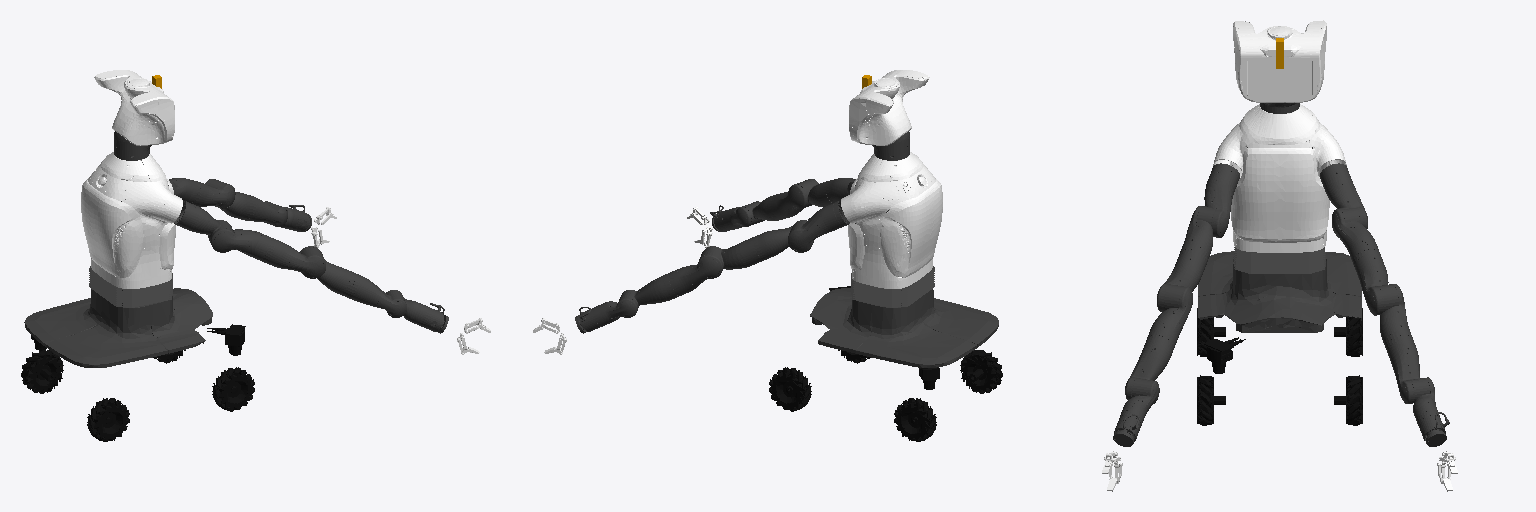
--- Facts derived from the render (not from the file) ---
The picture shows the robot from 3 angles, left to right: view 1: azimuth 30°, elevation 25°; view 2: azimuth 150°, elevation 25°; view 3: azimuth 270°, elevation 25°; orthographic projection.
Model tiago_pro with 67 links and 66 joints (28 revolute, 4 continuous, 1 prismatic, 33 fixed), rooted at base_footprint, posed all joints at 0.
Visible links, largest first — view 1: torso_fixed_link, torso_lift_link, head_2_link, arm_right_3_link, wheel_rear_right_link, wheel_front_right_link, wheel_rear_left_link, arm_right_2_link, arm_right_5_link, arm_right_1_link, arm_left_3_link, arm_right_4_link (+5 smaller); view 2: torso_fixed_link, torso_lift_link, head_2_link, arm_left_1_link, wheel_rear_left_link, wheel_front_left_link, wheel_rear_right_link, arm_left_4_link, arm_left_3_link, arm_left_5_link, arm_right_4_link, arm_left_2_link (+5 smaller); view 3: torso_lift_link, torso_fixed_link, head_2_link, arm_right_1_link, arm_left_3_link, arm_left_5_link, arm_right_5_link, arm_left_1_link, arm_right_3_link, arm_right_4_link, arm_left_2_link, arm_left_4_link (+8 smaller).
Link boxes in pixels (x1,y1,x2,y2): torso_fixed_link: (24,266,212,367); torso_lift_link: (81,152,182,288); head_2_link: (94,70,174,145); arm_right_3_link: (260,237,325,278); wheel_rear_right_link: (87,398,129,441); wheel_front_right_link: (212,367,254,411); wheel_rear_left_link: (21,350,63,393); arm_right_2_link: (211,228,270,259); arm_right_5_link: (345,273,406,317); arm_right_1_link: (174,201,233,242); arm_left_3_link: (191,179,235,209); arm_right_4_link: (299,246,354,295); torso_fixed_link: (810,266,998,367); torso_lift_link: (841,152,942,288); head_2_link: (849,70,929,145); arm_left_1_link: (788,201,849,252); wheel_rear_left_link: (894,398,936,441); wheel_front_left_link: (769,367,811,411); wheel_rear_right_link: (960,350,1002,393); arm_left_4_link: (669,254,722,295); arm_left_3_link: (699,237,763,269); arm_left_5_link: (619,273,678,307); arm_right_4_link: (771,184,806,218); arm_left_2_link: (753,220,806,259); torso_lift_link: (1213,104,1346,252); torso_fixed_link: (1198,247,1361,332); head_2_link: (1233,20,1326,102); arm_right_1_link: (1197,163,1239,237); arm_left_3_link: (1353,249,1398,315); arm_left_5_link: (1386,335,1429,403); arm_right_5_link: (1125,335,1173,399); arm_left_1_link: (1320,163,1367,228); arm_right_3_link: (1157,249,1206,311); arm_right_4_link: (1147,287,1192,347); arm_left_2_link: (1332,209,1378,261); arm_left_4_link: (1380,284,1412,347).
Bounding box of the posed robot: 1.44 × 1.07 × 1.19 m (x, y, z).
38 mesh visuals loaded from 23 distinct referenced files (17 binary STL); not drawn: 10 (reference not matched to a file when rendering).

URDF robot description (tiago_pro):
<?xml version="1.0" ?>
<!-- =================================================================================== -->
<!-- |    This document was autogenerated by xacro from tiago_pro.urdf.xacro           | -->
<!-- |    EDITING THIS FILE BY HAND IS NOT RECOMMENDED                                 | -->
<!-- =================================================================================== -->
<!--

  Copyright (c) 2022 PAL Robotics S.L. All rights reserved.
  Licensed under the Apache License, Version 2.0 (the "License");
  you may not use this file except in compliance with the License.
  You may obtain a copy of the License at
      http://www.apache.org/licenses/LICENSE-2.0
  Unless required by applicable law or agreed to in writing, software
  distributed under the License is distributed on an "AS IS" BASIS,
  WITHOUT WARRANTIES OR CONDITIONS OF ANY KIND, either express or implied.
  See the License for the specific language governing permissions and
  limitations under the License.
-->
<robot name="tiago_pro">
  <material name="Blue">
    <color rgba="0.0 0.0 0.8 1.0"/>
  </material>
  <material name="Green">
    <color rgba="0.0 0.8 0.0 1.0"/>
  </material>
  <material name="Grey">
    <color rgba="0.7 0.7 0.7 1.0"/>
  </material>
  <material name="LightGrey">
    <color rgba="0.9 0.9 0.9 1.0"/>
  </material>
  <material name="DarkGrey">
    <color rgba="0.1 0.1 0.1 1.0"/>
  </material>
  <material name="Red">
    <color rgba="0.8 0.0 0.0 1.0"/>
  </material>
  <material name="White">
    <color rgba="1.0 1.0 1.0 1.0"/>
  </material>
  <material name="Yellow">
    <color rgba="0.96 0.88 0.14 1.0"/>
  </material>
  <material name="Black">
    <color rgba="0.0 0.0 0.0 1.0"/>
  </material>
  <material name="FlatBlack">
    <color rgba="0.09 0.09 0.09 1.0"/>
  </material>
  <material name="Orange">
    <color rgba="1.0 0.487 0.0 1.0"/>
  </material>
  <material name="pal/Orange">
    <color rgba="0.91373 0.61568 0.29411 1.0"/>
  </material>
  <material name="pal/DarkGrey">
    <color rgba="0.29804 0.29804 0.29804 1"/>
  </material>
  <gazebo>
    <plugin filename="libgazebo_ros_control.so" name="gazebo_ros_control">
      <ns/>
      <robotSimType>pal_hardware_gazebo/PalHardwareGazebo</robotSimType>
      <robotNamespace/>
      <controlPeriod>0.001</controlPeriod>
    </plugin>
    <plugin filename="libgazebo_ros_force_based_move.so" name="gazebo_force_based_move">
      <commandTopic>mobile_base_controller/cmd_vel</commandTopic>
      <odometryTopic>mobile_base_controller/odom</odometryTopic>
      <odometryFrame>odom</odometryFrame>
      <odometryRate>50.0</odometryRate>
      <robotBaseFrame>base_footprint</robotBaseFrame>
      <publishOdometryTf>true</publishOdometryTf>
    </plugin>
    <plugin filename="libgazebo_ros_p3d.so" name="gazebo_ros_p3d">
      <bodyName>base_footprint</bodyName>
      <topicName>ground_truth_odom</topicName>
      <alwaysOn>true</alwaysOn>
      <updateRate>100.0</updateRate>
    </plugin>
  </gazebo>
  <gazebo>
    <plugin filename="libgazebo_world_odometry.so" name="gazebo_ros_odometry">
      <frameName>base_footprint</frameName>
      <topicName>floating_base_pose_simulated</topicName>
    </plugin>
  </gazebo>
  <gazebo reference="base_imu_link">
    <!-- this is expected to be reparented to pelvis with appropriate offset
         when imu_link is reduced by fixed joint reduction -->
    <!-- todo: this is working with gazebo 1.4, need to write a unit test -->
    <sensor name="imu_sensor" type="imu">
      <always_on>1</always_on>
      <update_rate>1000.0</update_rate>
      <imu>
        <noise>
          <type>gaussian</type>
          <!-- Noise parameters from Boston Dynamics
               (http://gazebosim.org/wiki/Sensor_noise):
                 rates (rad/s): mean=0, stddev=2e-4
                 accels (m/s/s): mean=0, stddev=1.7e-2
                 rate bias (rad/s): 5e-6 - 1e-5
                 accel bias (m/s/s): 1e-1
               Experimentally, simulation provide rates with noise of
               about 1e-3 rad/s and accels with noise of about 1e-1 m/s/s.
               So we don't expect to see the noise unless number of inner iterations
               are increased.

               We will add bias.  In this model, bias is sampled once for rates
               and once for accels at startup; the sign (negative or positive)
               of each bias is then switched with equal probability.  Thereafter,
               the biases are fixed additive offsets.  We choose
               bias means and stddevs to produce biases close to the provided
               data. -->
          <rate>
            <mean>0.0</mean>
            <stddev>2e-4</stddev>
            <bias_mean>0.0000075</bias_mean>
            <bias_stddev>0.0000008</bias_stddev>
          </rate>
          <accel>
            <mean>0.0</mean>
            <stddev>1.7e-2</stddev>
            <bias_mean>0.1</bias_mean>
            <bias_stddev>0.001</bias_stddev>
          </accel>
        </noise>
      </imu>
    </sensor>
  </gazebo>
  <link name="base_rear_laser_link" type="laser">
    <inertial>
      <origin rpy="0 0 0" xyz="-0.02559000000 -0.00056000000 -0.05732000000"/>
      <mass value="0.28922000000"/>
      <inertia ixx="0.00002628919" ixy="0.00000024298" ixz="-0.00000368129" iyy="0.00003374542" iyz="-0.00000001330" izz="0.00005832599"/>
    </inertial>
    <visual>
      <origin rpy="0 0 0" xyz="0 0 0"/>
      <geometry>
        <mesh filename="package://example-robot-data/robots/tiago2_description/meshes/sensors/sick_tim551.stl"/>
      </geometry>
      <material name="DarkGrey"/>
    </visual>
    <collision>
      <origin rpy="0 0 0" xyz="0 0 0"/>
      <geometry>
        <cylinder length="0.04" radius="0.02"/>
      </geometry>
    </collision>
  </link>
  <joint name="base_rear_laser_joint" type="fixed">
    <axis xyz="0 1 0"/>
    <origin rpy="-3.141592653589793 0 2.356194490192345" xyz="-0.27512 0.18297 0.13244"/>
    <parent link="base_link"/>
    <child link="base_rear_laser_link"/>
  </joint>
  <gazebo reference="base_rear_laser_link">
    <!-- Using gpu laser instead of normal laser because it was causing issues with the omni_base -->
    <sensor name="base_rear_laser" type="gpu_ray">
      <pose>0 0 0 0 0 0</pose>
      <update_rate>10</update_rate>
      <visualize>true</visualize>
      <ray>
        <scan>
          <horizontal>
            <!-- 818 (270/0.33) steps in 270deg fov -->
            <samples>818.0</samples>
            <resolution>1</resolution>
            <!-- not the sensor resolution; just 1 -->
            <min_angle>-2.356194490192345</min_angle>
            <max_angle>2.356194490192345</max_angle>
          </horizontal>
        </scan>
        <range>
          <min>0.05</min>
          <max>25.0</max>
          <resolution>0.001</resolution>
        </range>
      </ray>
      <plugin filename="libgazebo_ros_gpu_laser.so" name="gazebo_ros_sick_laser">
        <gaussianNoise>0.06</gaussianNoise>
        <alwaysOn>true</alwaysOn>
        <updateRate>10</updateRate>
        <topicName>scan_rear_raw</topicName>
        <frameName>base_rear_laser_link</frameName>
      </plugin>
    </sensor>
    <material>Gazebo/DarkGrey</material>
  </gazebo>
  <link name="base_front_laser_link" type="laser">
    <inertial>
      <origin rpy="0 0 0" xyz="-0.02559000000 -0.00056000000 -0.05732000000"/>
      <mass value="0.28922000000"/>
      <inertia ixx="0.00002628919" ixy="0.00000024298" ixz="-0.00000368129" iyy="0.00003374542" iyz="-0.00000001330" izz="0.00005832599"/>
    </inertial>
    <visual>
      <origin rpy="0 0 0" xyz="0 0 0"/>
      <geometry>
        <mesh filename="package://example-robot-data/robots/tiago2_description/meshes/sensors/sick_tim551.stl"/>
      </geometry>
      <material name="DarkGrey"/>
    </visual>
    <collision>
      <origin rpy="0 0 0" xyz="0 0 0"/>
      <geometry>
        <cylinder length="0.04" radius="0.02"/>
      </geometry>
    </collision>
  </link>
  <joint name="base_front_laser_joint" type="fixed">
    <axis xyz="0 1 0"/>
    <origin rpy="-3.141592653589793 0 -0.7853981633974483" xyz="0.27512 -0.18297 0.13244"/>
    <parent link="base_link"/>
    <child link="base_front_laser_link"/>
  </joint>
  <gazebo reference="base_front_laser_link">
    <!-- Using gpu laser instead of normal laser because it was causing issues with the omni_base -->
    <sensor name="base_front_laser" type="gpu_ray">
      <pose>0 0 0 0 0 0</pose>
      <update_rate>10</update_rate>
      <visualize>true</visualize>
      <ray>
        <scan>
          <horizontal>
            <!-- 818 (270/0.33) steps in 270deg fov -->
            <samples>818.0</samples>
            <resolution>1</resolution>
            <!-- not the sensor resolution; just 1 -->
            <min_angle>-2.356194490192345</min_angle>
            <max_angle>2.356194490192345</max_angle>
          </horizontal>
        </scan>
        <range>
          <min>0.05</min>
          <max>25.0</max>
          <resolution>0.001</resolution>
        </range>
      </ray>
      <plugin filename="libgazebo_ros_gpu_laser.so" name="gazebo_ros_sick_laser">
        <gaussianNoise>0.06</gaussianNoise>
        <alwaysOn>true</alwaysOn>
        <updateRate>10</updateRate>
        <topicName>scan_front_raw</topicName>
        <frameName>base_front_laser_link</frameName>
      </plugin>
    </sensor>
    <material>Gazebo/DarkGrey</material>
  </gazebo>
  <!-- Virtual Base Laser Link -->
  <joint name="virtual_base_laser_joint" type="fixed">
    <parent link="base_link"/>
    <child link="virtual_base_laser_link"/>
    <origin rpy="0 0 0" xyz="0 0 0.13244"/>
  </joint>
  <link name="virtual_base_laser_link">
    <inertial>
      <origin rpy="0 0 0" xyz="0 0 0"/>
      <mass value="0.0001"/>
      <inertia ixx="0.0001" ixy="0" ixz="0" iyy="0.0001" iyz="0" izz="0.0001"/>
    </inertial>
  </link>
  <!-- Base footprint -->
  <link name="base_link">
    <inertial>
      <origin rpy="0 0 0" xyz="0.0026742 0.00027459 0.086363"/>
      <mass value="34.047"/>
      <inertia ixx="0.22777" ixy="0.00035979" ixz="0.00015269" iyy="0.29991" iyz="1.7872E-05" izz="0.46036"/>
    </inertial>
    <visual>
      <origin rpy="0 0 0" xyz="0 0 0"/>
      <geometry>
        <mesh filename="package://example-robot-data/robots/tiago2_description/meshes/omni_base/base/base_link.stl"/>
      </geometry>
      <material name="">
        <color rgba="0.75294 0.75294 0.75294 1"/>
      </material>
    </visual>
    <collision>
      <origin rpy="0 0 0" xyz="0 0 0.18925"/>
      <geometry>
        <box size="0.717 0.497 0.0845"/>
      </geometry>
    </collision>
    <collision>
      <origin rpy="0 0 0" xyz="0 0 0.132"/>
      <geometry>
        <box size="0.58 0.39 0.03"/>
      </geometry>
    </collision>
    <collision>
      <origin rpy="0 0 0" xyz="0 0 0.0335"/>
      <geometry>
        <box size="0.705 0.48 0.167"/>
      </geometry>
    </collision>
  </link>
  <link name="base_footprint"/>
  <joint name="base_footprint_joint" type="fixed">
    <origin rpy="0 0 0" xyz="0 0 0.0762"/>
    <child link="base_link"/>
    <parent link="base_footprint"/>
  </joint>
  <!-- gazebo parameters are given here for base_link through base_footprint -->
  <gazebo reference="base_footprint">
    <kp>100000000.0</kp>
    <kd>10.0</kd>
    <mu1>0.1</mu1>
    <mu2>0.1</mu2>
    <fdir1>1 0 0</fdir1>
    <maxVel>10.0</maxVel>
    <minDepth>0.0005</minDepth>
    <laserRetro>0</laserRetro>
  </gazebo>
  <link name="base_imu_link">
    <inertial>
      <mass value="0.01"/>
      <origin xyz="0 0 0"/>
      <inertia ixx="0.000001" ixy="0" ixz="0" iyy="0.000001" iyz="0" izz="0.000001"/>
    </inertial>
    <!--visual>
        <origin rpy="0 0 0" xyz="0 0 0"/>
        <geometry>
          <box size="0.01 0.01 0.01"/>
        </geometry>
      </visual-->
  </link>
  <joint name="base_imu_joint" type="fixed">
    <parent link="base_link"/>
    <child link="base_imu_link"/>
    <origin rpy="0 0 1.5707963267948966" xyz="-0.287 0 0.092163"/>
  </joint>
  <gazebo reference="base_imu_link">
    <sensor name="base_imu_sensor" type="imu">
      <always_on>1</always_on>
      <update_rate>100.0</update_rate>
      <imu>
        <noise>
          <type>gaussian</type>
          <rate>
            <mean>0.0</mean>
            <stddev>2e-4</stddev>
            <bias_mean>0.0000075</bias_mean>
            <bias_stddev>0.0000008</bias_stddev>
          </rate>
          <accel>
            <mean>0.0</mean>
            <stddev>1.7e-2</stddev>
            <bias_mean>0.1</bias_mean>
            <bias_stddev>0.001</bias_stddev>
          </accel>
        </noise>
      </imu>
    </sensor>
  </gazebo>
  <!-- Docking link -->
  <link name="base_dock_link">
    <inertial>
      <origin rpy="0 0 0" xyz="-0.0037082 1.5226E-18 -4.1633E-17"/>
      <mass value="0.032242"/>
      <inertia ixx="2.1302E-05" ixy="-1.0461E-21" ixz="6.6555E-22" iyy="1.2058E-05" iyz="-1.9453E-21" izz="1.0058E-05"/>
    </inertial>
    <visual>
      <origin rpy="0 0 0" xyz="0 0 0"/>
      <geometry>
        <mesh filename="package://example-robot-data/robots/tiago2_description/meshes/omni_base/base/base_dock_link.stl"/>
      </geometry>
      <material name="">
        <color rgba="0.25098 0.25098 0.25098 1"/>
      </material>
    </visual>
    <collision>
      <origin rpy="0 0 0" xyz="0 0 0"/>
      <geometry>
        <mesh filename="package://example-robot-data/robots/tiago2_description/meshes/omni_base/base/base_dock_link.stl"/>
      </geometry>
    </collision>
  </link>
  <joint name="base_dock" type="fixed">
    <origin rpy="0 0 0" xyz="0.3535 0 0.0596"/>
    <parent link="base_link"/>
    <child link="base_dock_link"/>
    <axis xyz="0 0 0"/>
  </joint>
  <link name="base_antenna_right_link">
    <inertial>
      <origin rpy="0 0 0" xyz="0.027807 -0.0085125 0.015138"/>
      <mass value="0.02311"/>
      <inertia ixx="2.3107E-06" ixy="5.0914e-06" ixz="8.5605E-08" iyy="1.7384E-05" iyz="-2.6206e-08" izz="1.8542E-05"/>
    </inertial>
    <visual>
      <origin rpy="0 0 0" xyz="0 0 0"/>
      <geometry>
        <mesh filename="package://example-robot-data/robots/tiago2_description/meshes/omni_base/base/base_antena_link.stl" scale="1 1 1"/>
      </geometry>
      <material name="">
        <color rgba="0.75294 0.75294 0.75294 1"/>
      </material>
    </visual>
    <collision>
      <origin rpy="0 0 0" xyz="0 0 0"/>
      <geometry>
        <mesh filename="package://example-robot-data/robots/tiago2_description/meshes/omni_base/base/base_antena_link.stl" scale="1 1 1"/>
      </geometry>
    </collision>
  </link>
  <joint name="base_antenna_right_joint" type="fixed">
    <origin rpy="0 0 0" xyz="-0.2015 -0.13 0.2165"/>
    <parent link="base_link"/>
    <child link="base_antenna_right_link"/>
    <axis xyz="0 0 0"/>
  </joint>
  <gazebo reference="base_antenna_right_link">
    <material>Gazebo/Black</material>
  </gazebo>
  <link name="base_antenna_left_link">
    <inertial>
      <origin rpy="0 0 0" xyz="0.027807 0.0085125 0.015138"/>
      <mass value="0.02311"/>
      <inertia ixx="2.3107E-06" ixy="-5.0914e-06" ixz="8.5605E-08" iyy="1.7384E-05" iyz="2.6206e-08" izz="1.8542E-05"/>
    </inertial>
    <visual>
      <origin rpy="0 0 0" xyz="0 0 0"/>
      <geometry>
        <mesh filename="package://example-robot-data/robots/tiago2_description/meshes/omni_base/base/base_antena_link.stl" scale="1 -1 1"/>
      </geometry>
      <material name="">
        <color rgba="0.75294 0.75294 0.75294 1"/>
      </material>
    </visual>
    <collision>
      <origin rpy="0 0 0" xyz="0 0 0"/>
      <geometry>
        <mesh filename="package://example-robot-data/robots/tiago2_description/meshes/omni_base/base/base_antena_link.stl" scale="1 -1 1"/>
      </geometry>
    </collision>
  </link>
  <joint name="base_antenna_left_joint" type="fixed">
    <origin rpy="0 0 0" xyz="-0.2015 0.13 0.2165"/>
    <parent link="base_link"/>
    <child link="base_antenna_left_link"/>
    <axis xyz="0 0 0"/>
  </joint>
  <gazebo reference="base_antenna_left_link">
    <material>Gazebo/Black</material>
  </gazebo>
  <link name="suspension_front_right_link">
    <inertial>
      <origin rpy="0 0 0" xyz="-0.058182 -0.0043908 -0.0057695"/>
      <mass value="1.2879"/>
      <inertia ixx="0.0015947" ixy="-0.00013183" ixz="1.7315E-05" iyy="0.00060158" iyz="-6.0731e-05" izz="0.0015861"/>
    </inertial>
    <visual>
      <origin rpy="0 0 0" xyz="0 0 0"/>
      <geometry>
        <mesh filename="package://example-robot-data/robots/tiago2_description/meshes/omni_base/wheels/suspension_front_link.stl" scale="1 1.0 1"/>
      </geometry>
      <material name="">
        <color rgba="0.79216 0.81961 0.93333 1"/>
      </material>
    </visual>
    <collision>
      <origin rpy="0 0 0" xyz="0 0 0"/>
      <geometry>
        <mesh filename="package://example-robot-data/robots/tiago2_description/meshes/omni_base/wheels/suspension_front_link.stl" scale="1 1.0 1"/>
      </geometry>
    </collision>
    <kinematic>0</kinematic>
    <gravity>1</gravity>
  </link>
  <!-- Changed joint type to fixed joint. It is observed that the robot is loosing contact points due to some issues with the Gazebo Physics Engine. This makes the robot drift in localization when static due to added noise -->
  <joint name="suspension_front_right_joint" type="fixed">
    <origin rpy="0 0 -1.5707963267948966" xyz="0.244 -0.1725 0"/>
    <parent link="base_link"/>
    <child link="suspension_front_right_link"/>
    <axis xyz="0 0 1"/>
  </joint>
  <link name="wheel_front_right_link">
    <inertial>
      <origin rpy="0 0 0" xyz="5.4922e-09 6.9775e-05 0.011144"/>
      <mass value="0.70767"/>
      <inertia ixx="0.00035492" ixy="7.5685e-13" ixz="3.8795E-11" iyy="0.00035529" iyz="-2.0284e-07" izz="0.00040131"/>
    </inertial>
    <visual>
      <origin rpy="0 0 0" xyz="0 0 0"/>
      <geometry>
        <mesh filename="package://example-robot-data/robots/tiago2_description/meshes/omni_base/wheels/wheel_link.stl" scale="1 1 1.0"/>
      </geometry>
      <material name="DarkGrey"/>
    </visual>
    <collision>
      <origin rpy="0 0 0" xyz="0 0 0"/>
      <geometry>
        <cylinder length="0.05" radius="0.0762"/>
      </geometry>
    </collision>
  </link>
  <joint name="wheel_front_right_joint" type="continuous">
    <origin rpy="-1.5707963267948966 0 1.5707963267948966" xyz="0.050675 0 0"/>
    <parent link="suspension_front_right_link"/>
    <child link="wheel_front_right_link"/>
    <axis xyz="0 0 1"/>
    <limit effort="6.0" velocity="13.123359580052492"/>
  </joint>
  <transmission name="wheel_front_right_trans">
    <type>transmission_interface/SimpleTransmission</type>
    <actuator name="wheel_front_right_motor">
      <mechanicalReduction>1.0</mechanicalReduction>
    </actuator>
    <joint name="wheel_front_right_joint">
      <hardwareInterface>hardware_interface/VelocityJointInterface</hardwareInterface>
      <hardwareInterface>hardware_interface/JointStateInterface</hardwareInterface>
    </joint>
  </transmission>
  <!-- Contact model for the wheel surface -->
  <gazebo reference="wheel_front_right_link">
    <kp>1000000.0</kp>
    <kd>1000.0</kd>
    <mu1>0.0</mu1>
    <mu2>0.0</mu2>
    <fdir1>1 0 0</fdir1>
    <maxVel>1.0</maxVel>
    <minDepth>0.00</minDepth>
    <implicitSpringDamper>1</implicitSpringDamper>
    <material>Gazebo/DarkGrey</material>
  </gazebo>
  <link name="suspension_front_left_link">
    <inertial>
      <origin rpy="0 0 0" xyz="-0.058182 0.0043908 -0.0057695"/>
      <mass value="1.2879"/>
      <inertia ixx="0.0015947" ixy="0.00013183" ixz="1.7315E-05" iyy="0.00060158" iyz="6.0731e-05" izz="0.0015861"/>
    </inertial>
    <visual>
      <origin rpy="0 0 0" xyz="0 0 0"/>
      <geometry>
        <mesh filename="package://example-robot-data/robots/tiago2_description/meshes/omni_base/wheels/suspension_front_link.stl" scale="1 -1.0 1"/>
      </geometry>
      <material name="">
        <color rgba="0.79216 0.81961 0.93333 1"/>
      </material>
    </visual>
    <collision>
      <origin rpy="0 0 0" xyz="0 0 0"/>
      <geometry>
        <mesh filename="package://example-robot-data/robots/tiago2_description/meshes/omni_base/wheels/suspension_front_link.stl" scale="1 -1.0 1"/>
      </geometry>
    </collision>
    <kinematic>0</kinematic>
    <gravity>1</gravity>
  </link>
  <!-- Changed joint type to fixed joint. It is observed that the robot is loosing contact points due to some issues with the Gazebo Physics Engine. This makes the robot drift in localization when static due to added noise -->
  <joint name="suspension_front_left_joint" type="fixed">
    <origin rpy="0 0 1.5707963267948966" xyz="0.244 0.1725 0"/>
    <parent link="base_link"/>
    <child link="suspension_front_left_link"/>
    <axis xyz="0 0 1"/>
  </joint>
  <link name="wheel_front_left_link">
    <inertial>
      <origin rpy="0 0 0" xyz="5.4922e-09 -6.9775e-05 -0.011144"/>
      <mass value="0.70767"/>
      <inertia ixx="0.00035492" ixy="7.5685e-13" ixz="3.8795E-11" iyy="0.00035529" iyz="-2.0284e-07" izz="0.00040131"/>
    </inertial>
    <visual>
      <origin rpy="0 0 0" xyz="0 0 0"/>
      <geometry>
        <mesh filename="package://example-robot-data/robots/tiago2_description/meshes/omni_base/wheels/wheel_link.stl" scale="1 1 -1.0"/>
      </geometry>
      <material name="DarkGrey"/>
    </visual>
    <collision>
      <origin rpy="0 0 0" xyz="0 0 0"/>
      <geometry>
        <cylinder length="0.05" radius="0.0762"/>
      </geometry>
    </collision>
  </link>
  <joint name="wheel_front_left_joint" type="continuous">
    <origin rpy="-1.5707963267948966 0 -1.5707963267948966" xyz="0.050675 0 0"/>
    <parent link="suspension_front_left_link"/>
    <child link="wheel_front_left_link"/>
    <axis xyz="0 0 1"/>
    <limit effort="6.0" velocity="13.123359580052492"/>
  </joint>
  <transmission name="wheel_front_left_trans">
    <type>transmission_interface/SimpleTransmission</type>
    <actuator name="wheel_front_left_motor">
      <mechanicalReduction>1.0</mechanicalReduction>
    </actuator>
    <joint name="wheel_front_left_joint">
      <hardwareInterface>hardware_interface/VelocityJointInterface</hardwareInterface>
      <hardwareInterface>hardware_interface/JointStateInterface</hardwareInterface>
    </joint>
  </transmission>
  <!-- Contact model for the wheel surface -->
  <gazebo reference="wheel_front_left_link">
    <kp>1000000.0</kp>
    <kd>1000.0</kd>
    <mu1>0.0</mu1>
    <mu2>0.0</mu2>
    <fdir1>1 0 0</fdir1>
    <maxVel>1.0</maxVel>
    <minDepth>0.00</minDepth>
    <implicitSpringDamper>1</implicitSpringDamper>
    <material>Gazebo/DarkGrey</material>
  </gazebo>
  <link name="suspension_rear_right_link">
    <inertial>
      <origin rpy="0 0 0" xyz="-0.058182 0.0043908 -0.0057695"/>
      <mass value="1.2879"/>
      <inertia ixx="0.0015947" ixy="0.00013183" ixz="1.7315E-05" iyy="0.00060158" iyz="6.0731e-05" izz="0.0015861"/>
    </inertial>
    <visual>
      <origin rpy="0 0 0" xyz="0 0 0"/>
      <geometry>
        <mesh filename="package://example-robot-data/robots/tiago2_description/meshes/omni_base/wheels/suspension_rear_link.stl" scale="1 1.0 1"/>
      </geometry>
      <material name="">
        <color rgba="0.79216 0.81961 0.93333 1"/>
      </material>
    </visual>
    <collision>
      <origin rpy="0 0 0" xyz="0 0 0"/>
      <geometry>
        <mesh filename="package://example-robot-data/robots/tiago2_description/meshes/omni_base/wheels/suspension_rear_link.stl" scale="1 1.0 1"/>
      </geometry>
    </collision>
    <kinematic>0</kinematic>
    <gravity>1</gravity>
  </link>
  <!-- Changed joint type to fixed joint. It is observed that the robot is loosing contact points due to some issues with the Gazebo Physics Engine. This makes the robot drift in localization when static due to added noise -->
  <joint name="suspension_rear_right_joint" type="fixed">
    <origin rpy="0 0 -1.5707963267948966" xyz="-0.244 -0.1725 0"/>
    <parent link="base_link"/>
    <child link="suspension_rear_right_link"/>
    <axis xyz="0 0 1"/>
  </joint>
  <link name="wheel_rear_right_link">
    <inertial>
      <origin rpy="0 0 0" xyz="-5.4922e-09 -6.9775e-05 0.011144"/>
      <mass value="0.70767"/>
      <inertia ixx="0.00035492" ixy="-7.5685e-13" ixz="3.8795E-11" iyy="0.00035529" iyz="2.0284e-07" izz="0.00040131"/>
    </inertial>
    <visual>
      <origin rpy="0 0 0" xyz="0 0 0"/>
      <geometry>
        <mesh filename="package://example-robot-data/robots/tiago2_description/meshes/omni_base/wheels/wheel_link.stl" scale="1 1 1.0"/>
      </geometry>
      <material name="DarkGrey"/>
    </visual>
    <collision>
      <origin rpy="0 0 0" xyz="0 0 0"/>
      <geometry>
        <cylinder length="0.05" radius="0.0762"/>
      </geometry>
    </collision>
  </link>
  <joint name="wheel_rear_right_joint" type="continuous">
    <origin rpy="-1.5707963267948966 0 1.5707963267948966" xyz="0.050675 0 0"/>
    <parent link="suspension_rear_right_link"/>
    <child link="wheel_rear_right_link"/>
    <axis xyz="0 0 1"/>
    <limit effort="6.0" velocity="13.123359580052492"/>
  </joint>
  <transmission name="wheel_rear_right_trans">
    <type>transmission_interface/SimpleTransmission</type>
    <actuator name="wheel_rear_right_motor">
      <mechanicalReduction>1.0</mechanicalReduction>
    </actuator>
    <joint name="wheel_rear_right_joint">
      <hardwareInterface>hardware_interface/VelocityJointInterface</hardwareInterface>
      <hardwareInterface>hardware_interface/JointStateInterface</hardwareInterface>
    </joint>
  </transmission>
  <!-- Contact model for the wheel surface -->
  <gazebo reference="wheel_rear_right_link">
    <kp>1000000.0</kp>
    <kd>1000.0</kd>
    <mu1>0.0</mu1>
    <mu2>0.0</mu2>
    <fdir1>1 0 0</fdir1>
    <maxVel>1.0</maxVel>
    <minDepth>0.00</minDepth>
    <implicitSpringDamper>1</implicitSpringDamper>
    <material>Gazebo/DarkGrey</material>
  </gazebo>
  <link name="suspension_rear_left_link">
    <inertial>
      <origin rpy="0 0 0" xyz="-0.058182 -0.0043908 -0.0057695"/>
      <mass value="1.2879"/>
      <inertia ixx="0.0015947" ixy="-0.00013183" ixz="1.7315E-05" iyy="0.00060158" iyz="-6.0731e-05" izz="0.0015861"/>
    </inertial>
    <visual>
      <origin rpy="0 0 0" xyz="0 0 0"/>
      <geometry>
        <mesh filename="package://example-robot-data/robots/tiago2_description/meshes/omni_base/wheels/suspension_rear_link.stl" scale="1 -1.0 1"/>
      </geometry>
      <material name="">
        <color rgba="0.79216 0.81961 0.93333 1"/>
      </material>
    </visual>
    <collision>
      <origin rpy="0 0 0" xyz="0 0 0"/>
      <geometry>
        <mesh filename="package://example-robot-data/robots/tiago2_description/meshes/omni_base/wheels/suspension_rear_link.stl" scale="1 -1.0 1"/>
      </geometry>
    </collision>
    <kinematic>0</kinematic>
    <gravity>1</gravity>
  </link>
  <!-- Changed joint type to fixed joint. It is observed that the robot is loosing contact points due to some issues with the Gazebo Physics Engine. This makes the robot drift in localization when static due to added noise -->
  <joint name="suspension_rear_left_joint" type="fixed">
    <origin rpy="0 0 1.5707963267948966" xyz="-0.244 0.1725 0"/>
    <parent link="base_link"/>
    <child link="suspension_rear_left_link"/>
    <axis xyz="0 0 1"/>
  </joint>
  <link name="wheel_rear_left_link">
    <inertial>
      <origin rpy="0 0 0" xyz="-5.4922e-09 6.9775e-05 -0.011144"/>
      <mass value="0.70767"/>
      <inertia ixx="0.00035492" ixy="-7.5685e-13" ixz="3.8795E-11" iyy="0.00035529" iyz="2.0284e-07" izz="0.00040131"/>
    </inertial>
    <visual>
      <origin rpy="0 0 0" xyz="0 0 0"/>
      <geometry>
        <mesh filename="package://example-robot-data/robots/tiago2_description/meshes/omni_base/wheels/wheel_link.stl" scale="1 1 -1.0"/>
      </geometry>
      <material name="DarkGrey"/>
    </visual>
    <collision>
      <origin rpy="0 0 0" xyz="0 0 0"/>
      <geometry>
        <cylinder length="0.05" radius="0.0762"/>
      </geometry>
    </collision>
  </link>
  <joint name="wheel_rear_left_joint" type="continuous">
    <origin rpy="-1.5707963267948966 0 -1.5707963267948966" xyz="0.050675 0 0"/>
    <parent link="suspension_rear_left_link"/>
    <child link="wheel_rear_left_link"/>
    <axis xyz="0 0 1"/>
    <limit effort="6.0" velocity="13.123359580052492"/>
  </joint>
  <transmission name="wheel_rear_left_trans">
    <type>transmission_interface/SimpleTransmission</type>
    <actuator name="wheel_rear_left_motor">
      <mechanicalReduction>1.0</mechanicalReduction>
    </actuator>
    <joint name="wheel_rear_left_joint">
      <hardwareInterface>hardware_interface/VelocityJointInterface</hardwareInterface>
      <hardwareInterface>hardware_interface/JointStateInterface</hardwareInterface>
    </joint>
  </transmission>
  <!-- Contact model for the wheel surface -->
  <gazebo reference="wheel_rear_left_link">
    <kp>1000000.0</kp>
    <kd>1000.0</kd>
    <mu1>0.0</mu1>
    <mu2>0.0</mu2>
    <fdir1>1 0 0</fdir1>
    <maxVel>1.0</maxVel>
    <minDepth>0.00</minDepth>
    <implicitSpringDamper>1</implicitSpringDamper>
    <material>Gazebo/DarkGrey</material>
  </gazebo>
  <!-- Bottom fixed part of column -->
  <link name="torso_fixed_link">
    <inertial>
      <origin rpy="0 0 0" xyz="0.0014857 -0.0077054 0.14693"/>
      <mass value="15.527"/>
      <inertia ixx="0.17904" ixy="0.00019412" ixz="-0.0049479" iyy="0.20082" iyz="0.00015981" izz="0.084141"/>
    </inertial>
    <visual>
      <origin rpy="0 0 0" xyz="0 0 0"/>
      <geometry>
        <mesh filename="package://example-robot-data/robots/tiago2_description/meshes/torso/torso_fixed_link.stl"/>
      </geometry>
      <material name="pal/DarkGrey"/>
    </visual>
    <collision>
      <origin rpy="0 0 0" xyz="0 0 0.1"/>
      <geometry>
        <box size="0.23 0.253 0.2"/>
      </geometry>
      <material name="pal/DarkGrey"/>
    </collision>
    <collision>
      <origin rpy="0 0 0" xyz="0.18 0 0.03"/>
      <geometry>
        <box size="0.15 0.253 0.06"/>
      </geometry>
      <material name="pal/DarkGrey"/>
    </collision>
    <collision>
      <origin rpy="0 0 0" xyz="-0.09 0 0.0"/>
      <geometry>
        <box size="0.47 0.5 0.02"/>
      </geometry>
      <material name="pal/DarkGrey"/>
    </collision>
  </link>
  <gazebo reference="torso_fixed_link">
    <material>Gazebo/DarkGrey</material>
  </gazebo>
  <joint name="torso_fixed_joint" type="fixed">
    <origin rpy="0 0 0" xyz="-0.0245 0 0.215"/>
    <parent link="base_link"/>
    <child link="torso_fixed_link"/>
    <axis xyz="0 0 0"/>
  </joint>
  <!-- Middle extending  -->
  <link name="torso_fixed_column_link">
    <inertial>
      <origin rpy="0 0 0" xyz="0 0 0"/>
      <mass value="0.01"/>
      <inertia ixx="0.000001" ixy="0" ixz="0" iyy="0.000001" iyz="0" izz="0.000001"/>
    </inertial>
    <visual>
      <origin rpy="0 0 0" xyz="0 0 0.275"/>
      <geometry>
        <box size="0.18 0.2 0.55"/>
      </geometry>
      <material name="pal/DarkGrey"/>
    </visual>
    <collision>
      <origin rpy="0 0 0" xyz="0 0 0.275"/>
      <geometry>
        <box size="0.23 0.253 0.45"/>
      </geometry>
      <material name="pal/DarkGrey"/>
    </collision>
  </link>
  <gazebo reference="torso_fixed_column_link">
    <material>Gazebo/DarkGrey</material>
  </gazebo>
  <joint name="torso_fixed_column_joint" type="fixed">
    <origin rpy="0 0 0" xyz="-0.028 0 0.205"/>
    <parent link="base_link"/>
    <child link="torso_fixed_column_link"/>
    <axis xyz="0 0 0"/>
  </joint>
  <link name="torso_lift_link">
    <inertial>
      <origin rpy="0 0 0" xyz="0.0014742 0.0065278 -0.20301"/>
      <mass value="9.547"/>
      <inertia ixx="0.042078" ixy="5.6766E-05" ixz="0.00014731" iyy="0.031115" iyz="-5.0165E-05" izz="0.018659"/>
    </inertial>
    <visual>
      <origin rpy="0 0 0" xyz="0 0 0"/>
      <geometry>
        <mesh filename="package://example-robot-data/robots/tiago2_description/meshes/torso/torso_lift_link.stl"/>
      </geometry>
      <material name="White"/>
    </visual>
    <collision>
      <origin rpy="0 0 0" xyz="0 0 0"/>
      <geometry>
        <mesh filename="package://example-robot-data/robots/tiago2_description/meshes/torso/torso_lift_link_collision.stl"/>
      </geometry>
    </collision>
  </link>
  <joint name="torso_lift_joint" type="prismatic">
    <origin rpy="0.0 0.0 0.0" xyz="0.0 0.0 0.5545"/>
    <parent link="torso_fixed_link"/>
    <child link="torso_lift_link"/>
    <axis xyz="0 0 1"/>
    <limit effort="2000" lower="0" upper="0.35" velocity="0.07"/>
    <calibration rising="0.0"/>
    <dynamics damping="1000"/>
    <safety_controller k_position="20" k_velocity="20" soft_lower_limit="0.0" soft_upper_limit="0.35"/>
  </joint>
  <transmission name="torso_lift_trans">
    <type>transmission_interface/SimpleTransmission</type>
    <actuator name="torso_lift_motor">
      <mechanicalReduction>1.0</mechanicalReduction>
    </actuator>
    <joint name="torso_lift_joint">
      <hardwareInterface>hardware_interface/PositionJointInterface</hardwareInterface>
      <hardwareInterface>hardware_interface/JointStateInterface</hardwareInterface>
    </joint>
  </transmission>
  <gazebo reference="torso_lift_joint">
    <implicitSpringDamper>1</implicitSpringDamper>
  </gazebo>
  <link name="head_1_link">
    <inertial>
      <origin rpy="0 0 0" xyz="0.013723 0.0015288 0.091095"/>
      <mass value="0.50253"/>
      <inertia ixx="0.00073252" ixy="-1.0801E-06" ixz="-6.3715E-05" iyy="0.0005861" iyz="4.157E-10" izz="0.00060232"/>
    </inertial>
    <visual>
      <origin rpy="0 0 0" xyz="0 0 0"/>
      <geometry>
        <mesh filename="package://example-robot-data/robots/tiago2_description/meshes/head/head_1_link.stl" scale="1 1 1"/>
      </geometry>
      <material name="pal/DarkGrey"/>
    </visual>
    <collision>
      <origin rpy="0 0 0.0" xyz="0.0 0 0"/>
      <geometry>
        <mesh filename="package://example-robot-data/robots/tiago2_description/meshes/head/head_1_link_collision.stl" scale="1 1 1"/>
      </geometry>
    </collision>
  </link>
  <joint name="head_1_joint" type="revolute">
    <parent link="torso_lift_link"/>
    <child link="head_1_link"/>
    <origin rpy="0 0 0" xyz="0.0 0.0 0.04"/>
    <axis xyz="0 0 1"/>
    <limit effort="5.197" lower="-0.9599310885968813" upper="0.9599310885968813" velocity="3.0"/>
    <dynamics damping="0.5" friction="1.0"/>
    <safety_controller k_position="20" k_velocity="20" soft_lower_limit="-0.8899310885968812" soft_upper_limit="0.8899310885968812"/>
  </joint>
  <transmission name="head_1_trans">
    <type>transmission_interface/SimpleTransmission</type>
    <actuator name="head_1_motor">
      <mechanicalReduction>1</mechanicalReduction>
    </actuator>
    <joint name="head_1_joint">
      <offset>0.0</offset>
      <hardwareInterface>hardware_interface/JointStateInterface</hardwareInterface>
      <hardwareInterface>hardware_interface/PositionJointInterface</hardwareInterface>
    </joint>
  </transmission>
  <link name="head_2_link">
    <inertial>
      <origin rpy="0 0 0" xyz="0.0025967 0.11474 0.00021233"/>
      <mass value="1.2093"/>
      <inertia ixx="0.0063697" ixy="0.00052067" ixz="-8.4666E-06" iyy="0.0045958" iyz="9.6501E-06" izz="0.0031995"/>
    </inertial>
    <visual>
      <origin rpy="0 0 0" xyz="0 0 0"/>
      <geometry>
        <mesh filename="package://example-robot-data/robots/tiago2_description/meshes/head/head_2_link.stl" scale="1 1 1"/>
      </geometry>
      <material name="White"/>
    </visual>
    <collision>
      <origin rpy="0 0 0" xyz="0 0 0"/>
      <geometry>
        <mesh filename="package://example-robot-data/robots/tiago2_description/meshes/head/head_2_link_collision.stl" scale="1 1 1"/>
      </geometry>
    </collision>
  </link>
  <joint name="head_2_joint" type="revolute">
    <parent link="head_1_link"/>
    <child link="head_2_link"/>
    <origin rpy="1.5708 0 0" xyz="0.04597 0 0.10075"/>
    <axis xyz="0 0 1"/>
    <limit effort="2.77" lower="-0.9599310885968813" upper="0.3490658503988659" velocity="3.0"/>
    <dynamics damping="0.5" friction="1.0"/>
    <safety_controller k_position="20" k_velocity="20" soft_lower_limit="-0.8899310885968812" soft_upper_limit="0.2790658503988659"/>
  </joint>
  <transmission name="head_2_trans">
    <type>transmission_interface/SimpleTransmission</type>
    <actuator name="head_2_motor">
      <mechanicalReduction>1</mechanicalReduction>
    </actuator>
    <joint name="head_2_joint">
      <offset>0.0</offset>
      <hardwareInterface>hardware_interface/JointStateInterface</hardwareInterface>
      <hardwareInterface>hardware_interface/PositionJointInterface</hardwareInterface>
    </joint>
  </transmission>
  <link name="head_screen_link">
    <inertial>
      <origin rpy="0 0 0" xyz="0 0 0"/>
      <mass value="0.0"/>
      <inertia ixx="0.0" ixy="0.0" ixz="0.0" iyy="0.0" iyz="-0.0" izz="0.0"/>
    </inertial>
  </link>
  <joint name="head_screen_joint" type="fixed">
    <parent link="head_2_link"/>
    <child link="head_screen_link"/>
    <origin rpy="-1.5707963267948966 0 0" xyz="0.0528 0.08 0.0"/>
  </joint>
  <gazebo reference="head_1_link">
    <material>Gazebo/DarkGrey</material>
    <mu1>0.9</mu1>
    <mu2>0.9</mu2>
  </gazebo>
  <gazebo reference="head_2_link">
    <material>Gazebo/White</material>
    <mu1>0.9</mu1>
    <mu2>0.9</mu2>
  </gazebo>
  <gazebo reference="head_1_joint">
    <implicitSpringDamper>1</implicitSpringDamper>
  </gazebo>
  <gazebo reference="head_2_joint">
    <implicitSpringDamper>1</implicitSpringDamper>
  </gazebo>
  <material name="head_d435_camera_aluminum">
    <color rgba="0.5 0.5 0.5 1"/>
  </material>
  <!-- camera body, with origin at bottom screw mount -->
  <joint name="head_d435_camera_joint" type="fixed">
    <origin rpy="-1.5707963267948966 0.0 0.0" xyz="0.03815 0.14750 0.0"/>
    <parent link="head_2_link"/>
    <child link="head_d435_camera_bottom_screw_frame"/>
  </joint>
  <link name="head_d435_camera_bottom_screw_frame">
    <inertial>
      <origin rpy="0 0 0" xyz="0 0 0"/>
      <mass value="0.0"/>
      <inertia ixx="0.0" ixy="0.0" ixz="0.0" iyy="0.0" iyz="-0.0" izz="0.0"/>
    </inertial>
  </link>
  <joint name="head_d435_camera_link_joint" type="fixed">
    <origin rpy="0 0 0" xyz="0.010600000000000002 0.0175 0.0125"/>
    <parent link="head_d435_camera_bottom_screw_frame"/>
    <child link="head_d435_camera_link"/>
  </joint>
  <link name="head_d435_camera_link">
    <visual>
      <!-- the mesh origin is at front plate in between the two infrared camera axes -->
      <origin rpy="1.5707963267948966 0 1.5707963267948966" xyz="0.0043 -0.0175 0"/>
      <geometry>
        <box size="0.02505 0.09 0.025"/>
        <!-- <mesh filename="package://realsense2_description/meshes/d435.dae"/> -->
      </geometry>
    </visual>
    <collision>
      <origin rpy="0 0 0" xyz="0 -0.0175 0"/>
      <geometry>
        <box size="0.02505 0.09 0.025"/>
      </geometry>
    </collision>
    <inertial>
      <!-- The following are not reliable values, and should not be used for modeling -->
      <mass value="0.072"/>
      <origin xyz="0 0 0"/>
      <inertia ixx="0.003881243" ixy="0.0" ixz="0.0" iyy="0.000498940" iyz="0.0" izz="0.003879257"/>
    </inertial>
  </link>
  <!-- camera depth joints and links -->
  <joint name="head_d435_camera_depth_joint" type="fixed">
    <origin rpy="0 0 0" xyz="0 0 0"/>
    <parent link="head_d435_camera_link"/>
    <child link="head_d435_camera_depth_frame"/>
  </joint>
  <link name="head_d435_camera_depth_frame">
        <inertial>
      <origin rpy="0 0 0" xyz="0 0 0"/>
      <mass value="0.0"/>
      <inertia ixx="0.0" ixy="0.0" ixz="0.0" iyy="0.0" iyz="-0.0" izz="0.0"/>
    </inertial>
  </link>
  <joint name="head_d435_camera_depth_optical_joint" type="fixed">
    <origin rpy="-1.5707963267948966 0 -1.5707963267948966" xyz="0 0 0"/>
    <parent link="head_d435_camera_depth_frame"/>
    <child link="head_d435_camera_depth_optical_frame"/>
  </joint>
  <link name="head_d435_camera_depth_optical_frame">
        <inertial>
      <origin rpy="0 0 0" xyz="0 0 0"/>
      <mass value="0.0"/>
      <inertia ixx="0.0" ixy="0.0" ixz="0.0" iyy="0.0" iyz="-0.0" izz="0.0"/>
    </inertial>
  </link>
  <!-- camera left IR joints and links -->
  <joint name="head_d435_camera_infra1_joint" type="fixed">
    <origin rpy="0 0 0" xyz="0 0.0 0"/>
    <parent link="head_d435_camera_link"/>
    <child link="head_d435_camera_infra1_frame"/>
  </joint>
  <link name="head_d435_camera_infra1_frame">
        <inertial>
      <origin rpy="0 0 0" xyz="0 0 0"/>
      <mass value="0.0"/>
      <inertia ixx="0.0" ixy="0.0" ixz="0.0" iyy="0.0" iyz="-0.0" izz="0.0"/>
    </inertial>
  </link>
  <joint name="head_d435_camera_infra1_optical_joint" type="fixed">
    <origin rpy="-1.5707963267948966 0 -1.5707963267948966" xyz="0 0 0"/>
    <parent link="head_d435_camera_infra1_frame"/>
    <child link="head_d435_camera_infra1_optical_frame"/>
  </joint>
  <link name="head_d435_camera_infra1_optical_frame">
        <inertial>
      <origin rpy="0 0 0" xyz="0 0 0"/>
      <mass value="0.0"/>
      <inertia ixx="0.0" ixy="0.0" ixz="0.0" iyy="0.0" iyz="-0.0" izz="0.0"/>
    </inertial>
  </link>
  <!-- camera right IR joints and links -->
  <joint name="head_d435_camera_infra2_joint" type="fixed">
    <origin rpy="0 0 0" xyz="0 -0.05 0"/>
    <parent link="head_d435_camera_link"/>
    <child link="head_d435_camera_infra2_frame"/>
  </joint>
  <link name="head_d435_camera_infra2_frame">
        <inertial>
      <origin rpy="0 0 0" xyz="0 0 0"/>
      <mass value="0.0"/>
      <inertia ixx="0.0" ixy="0.0" ixz="0.0" iyy="0.0" iyz="-0.0" izz="0.0"/>
    </inertial>
  </link>
  <joint name="head_d435_camera_infra2_optical_joint" type="fixed">
    <origin rpy="-1.5707963267948966 0 -1.5707963267948966" xyz="0 0 0"/>
    <parent link="head_d435_camera_infra2_frame"/>
    <child link="head_d435_camera_infra2_optical_frame"/>
  </joint>
  <link name="head_d435_camera_infra2_optical_frame">
    <inertial>
      <origin rpy="0 0 0" xyz="0 0 0"/>
      <mass value="0.0"/>
      <inertia ixx="0.0" ixy="0.0" ixz="0.0" iyy="0.0" iyz="-0.0" izz="0.0"/>
    </inertial>
  </link>

  <!-- camera color joints and links -->
  <joint name="head_d435_camera_color_joint" type="fixed">
    <origin rpy="0 0 0" xyz="0 0.015 0"/>
    <parent link="head_d435_camera_link"/>
    <child link="head_d435_camera_color_frame"/>
  </joint>
  <link name="head_d435_camera_color_frame">
        <inertial>
      <origin rpy="0 0 0" xyz="0 0 0"/>
      <mass value="0.0"/>
      <inertia ixx="0.0" ixy="0.0" ixz="0.0" iyy="0.0" iyz="-0.0" izz="0.0"/>
    </inertial>
  </link>
  <joint name="head_d435_camera_color_optical_joint" type="fixed">
    <origin rpy="-1.5707963267948966 0 -1.5707963267948966" xyz="0 0 0"/>
    <parent link="head_d435_camera_color_frame"/>
    <child link="head_d435_camera_color_optical_frame"/>
  </joint>
  <link name="head_d435_camera_color_optical_frame">
        <inertial>
      <origin rpy="0 0 0" xyz="0 0 0"/>
      <mass value="0.0"/>
      <inertia ixx="0.0" ixy="0.0" ixz="0.0" iyy="0.0" iyz="-0.0" izz="0.0"/>
    </inertial>
  </link>
  <gazebo reference="head_d435_camera_link">
    <self_collide>0</self_collide>
    <enable_wind>0</enable_wind>
    <kinematic>0</kinematic>
    <gravity>1</gravity>
    <!--<mu>1</mu>-->
    <mu2>1</mu2>
    <fdir1>0 0 0</fdir1>
    <!--<slip1>0</slip1>
      <slip2>0</slip2>-->
    <kp>1e+13</kp>
    <kd>1</kd>
    <!--<max_vel>0.01</max_vel>
      <min_depth>0</min_depth>-->
    <sensor name="head_d435_cameracolor" type="camera">
      <camera name="head_d435_camera">
        <horizontal_fov>1.2112585008840648</horizontal_fov>
        <image>
          <width>640</width>
          <height>480</height>
          <format>RGB_INT8</format>
        </image>
        <clip>
          <near>0.1</near>
          <far>100</far>
        </clip>
        <noise>
          <type>gaussian</type>
          <mean>0.0</mean>
          <stddev>0.007</stddev>
        </noise>
      </camera>
      <always_on>1</always_on>
      <update_rate>30</update_rate>
      <visualize>1</visualize>
    </sensor>
    <sensor name="head_d435_cameraired1" type="camera">
      <camera name="head_d435_camera">
        <horizontal_fov>1.4870205226991688</horizontal_fov>
        <image>
          <width>1280</width>
          <height>720</height>
          <format>L_INT8</format>
        </image>
        <clip>
          <near>0.1</near>
          <far>100</far>
        </clip>
        <noise>
          <type>gaussian</type>
          <mean>0.0</mean>
          <stddev>0.05</stddev>
        </noise>
      </camera>
      <always_on>1</always_on>
      <update_rate>90</update_rate>
      <visualize>0</visualize>
    </sensor>
    <sensor name="head_d435_cameraired2" type="camera">
      <camera name="head_d435_camera">
        <horizontal_fov>1.4870205226991688</horizontal_fov>
        <image>
          <width>1280</width>
          <height>720</height>
          <format>L_INT8</format>
        </image>
        <clip>
          <near>0.1</near>
          <far>100</far>
        </clip>
        <noise>
          <type>gaussian</type>
          <mean>0.0</mean>
          <stddev>0.05</stddev>
        </noise>
      </camera>
      <always_on>1</always_on>
      <update_rate>90</update_rate>
      <visualize>0</visualize>
    </sensor>
    <sensor name="head_d435_cameradepth" type="depth">
      <camera name="head_d435_camera">
        <horizontal_fov>1.4870205226991688</horizontal_fov>
        <image>
          <width>1280</width>
          <height>720</height>
        </image>
        <clip>
          <near>0.1</near>
          <far>100</far>
        </clip>
        <noise>
          <type>gaussian</type>
          <mean>0.0</mean>
          <stddev>0.100</stddev>
        </noise>
      </camera>
      <always_on>1</always_on>
      <update_rate>90</update_rate>
      <visualize>0</visualize>
    </sensor>
  </gazebo>
  <gazebo>
    <plugin filename="librealsense_gazebo_plugin.so" name="head_d435_camera">
      <prefix>head_d435_camera</prefix>
      <depthUpdateRate>30.0</depthUpdateRate>
      <colorUpdateRate>30.0</colorUpdateRate>
      <infraredUpdateRate>30.0</infraredUpdateRate>
      <depthTopicName>depth/image_raw</depthTopicName>
      <depthCameraInfoTopicName>depth/camera_info</depthCameraInfoTopicName>
      <colorTopicName>color/image_raw</colorTopicName>
      <colorCameraInfoTopicName>color/camera_info</colorCameraInfoTopicName>
      <infrared1TopicName>infra1/image_raw</infrared1TopicName>
      <infrared1CameraInfoTopicName>infra1/camera_info</infrared1CameraInfoTopicName>
      <infrared2TopicName>infra2/image_raw</infrared2TopicName>
      <infrared2CameraInfoTopicName>infra2/camera_info</infrared2CameraInfoTopicName>
      <colorOpticalframeName>head_d435_camera_color_optical_frame</colorOpticalframeName>
      <depthOpticalframeName>head_d435_camera_depth_optical_frame</depthOpticalframeName>
      <infrared1OpticalframeName>head_d435_camera_infra1_ir_optical_frame</infrared1OpticalframeName>
      <infrared2OpticalframeName>head_d435_camera_infra2_ir_optical_frame</infrared2OpticalframeName>
      <rangeMinDepth>0.2</rangeMinDepth>
      <rangeMaxDepth>10.0</rangeMaxDepth>
      <pointCloud>True</pointCloud>
      <pointCloudTopicName>depth/color/points</pointCloudTopicName>
      <pointCloudCutoff>0.25</pointCloudCutoff>
      <pointCloudCutoffMax>9.0</pointCloudCutoffMax>
    </plugin>
  </gazebo>
  <!-- ARM 1 LINK -->
  <link name="arm_left_1_link">
    <inertial>
      <origin rpy="0 0 0" xyz="0.0023908 0.015901 0.1545"/>
      <mass value="1.0816"/>
      <inertia ixx="0.0024426" ixy="2.3307E-05" ixz="5.9333E-05" iyy="0.0023089" iyz="-0.00020369" izz="0.00092843"/>
    </inertial>
    <visual>
      <origin rpy="0 0 0" xyz="0 0 0"/>
      <geometry>
        <mesh filename="package://example-robot-data/robots/tiago2_description/meshes/arm_tiago_pro/arm_1_link.stl" scale="1 1 1"/>
      </geometry>
      <material name="pal/DarkGrey"/>
    </visual>
    <collision>
      <origin rpy="0 0 0" xyz="0 0 0"/>
      <geometry>
        <mesh filename="package://example-robot-data/robots/tiago2_description/meshes/arm_tiago_pro/arm_1_link_collision.stl" scale="1 1 1"/>
      </geometry>
    </collision>
  </link>
  <!-- ARM 1 JOINT -->
  <joint name="arm_left_1_joint" type="revolute">
    <origin rpy="-2.0679 0.0 -1.2217" xyz="0.08976 0.15918 -0.092008"/>
    <parent link="torso_lift_link"/>
    <child link="arm_left_1_link"/>
    <axis xyz="0 0 1"/>
    <limit effort="43.0" lower="-2.6000169866959526" upper="2.6000169866959526" velocity="1.95"/>
    <dynamics damping="1.0" friction="1.0"/>
    <safety_controller k_position="20" k_velocity="20" soft_lower_limit="-148.9" soft_upper_limit="148.9"/>
  </joint>
  <!-- ARM 2 LINK -->
  <link name="arm_left_2_link">
    <inertial>
      <origin rpy="0 0 0" xyz="-0.11649 -0.017864 0.0053772"/>
      <mass value="0.99204"/>
      <inertia ixx="0.00077294" ixy="-0.00011001" ixz="-0.00016136" iyy="0.0014605" iyz="-1.3224E-05" izz="0.0015605"/>
    </inertial>
    <visual>
      <origin rpy="0 0 0" xyz="0 0 0"/>
      <geometry>
        <mesh filename="package://example-robot-data/robots/tiago2_description/meshes/arm_tiago_pro/arm_2_link.stl" scale="1 1 1"/>
      </geometry>
      <material name="pal/DarkGrey"/>
    </visual>
    <collision>
      <origin rpy="0 0 0" xyz="0 0 0"/>
      <geometry>
        <mesh filename="package://example-robot-data/robots/tiago2_description/meshes/arm_tiago_pro/arm_2_link_collision.stl" scale="1 1 1"/>
      </geometry>
    </collision>
  </link>
  <!-- ARM 2 JOINT -->
  <joint name="arm_left_2_joint" type="revolute">
    <origin rpy="0 1.5708 0" xyz="0.0 0.02 0.18"/>
    <parent link="arm_left_1_link"/>
    <child link="arm_left_2_link"/>
    <axis xyz="0 0 1"/>
    <limit effort="43.0" lower="-2.4399702942880728" upper="1.1000810275320259" velocity="1.95"/>
    <dynamics damping="1.0" friction="1.0"/>
    <safety_controller k_position="20" k_velocity="20" soft_lower_limit="-2.369970294288073" soft_upper_limit="1.0300810275320258"/>
  </joint>
  <!-- ARM 3 LINK -->
  <link name="arm_left_3_link">
    <inertial>
      <origin rpy="0 0 0" xyz="0.0023908 0.015901 0.1545"/>
      <mass value="1.0816"/>
      <inertia ixx="0.0024426" ixy="2.3307E-05" ixz="5.9333E-05" iyy="0.0023089" iyz="-0.00020369" izz="0.00092843"/>
    </inertial>
    <visual>
      <origin rpy="0 0 0" xyz="0 0 0"/>
      <geometry>
        <mesh filename="package://example-robot-data/robots/tiago2_description/meshes/arm_tiago_pro/arm_3_link.stl" scale="1 1 1"/>
      </geometry>
      <material name="pal/DarkGrey"/>
    </visual>
    <collision>
      <origin rpy="0 0 0" xyz="0 0 0"/>
      <geometry>
        <mesh filename="package://example-robot-data/robots/tiago2_description/meshes/arm_tiago_pro/arm_3_link_collision.stl" scale="1 1 1"/>
      </geometry>
    </collision>
  </link>
  <!-- ARM 3 JOINT -->
  <joint name="arm_left_3_joint" type="revolute">
    <origin rpy="3.1415 1.5707 0" xyz="-0.15 -0.02 0"/>
    <parent link="arm_left_2_link"/>
    <child link="arm_left_3_link"/>
    <axis xyz="0 0 1"/>
    <limit effort="26" lower="-2.6000169866959526" upper="2.6000169866959526" velocity="2.35"/>
    <dynamics damping="1.0" friction="1.0"/>
    <safety_controller k_position="20" k_velocity="20" soft_lower_limit="-2.5300169866959528" soft_upper_limit="2.5300169866959528"/>
  </joint>
  <!-- ARM 4 LINK -->
  <link name="arm_left_4_link">
    <inertial>
      <origin rpy="0 0 0" xyz="-0.11649 -0.017864 0.0053772"/>
      <mass value="0.99204"/>
      <inertia ixx="0.00077294" ixy="-0.00011001" ixz="-0.00016136" iyy="0.0014605" iyz="-1.3224E-05" izz="0.0015605"/>
    </inertial>
    <visual>
      <origin rpy="0 0 0" xyz="0 0 0"/>
      <geometry>
        <mesh filename="package://example-robot-data/robots/tiago2_description/meshes/arm_tiago_pro/arm_4_link.stl" scale="1 1 1"/>
      </geometry>
      <material name="pal/DarkGrey"/>
    </visual>
    <collision>
      <origin rpy="0 0 0" xyz="0 0 0"/>
      <geometry>
        <mesh filename="package://example-robot-data/robots/tiago2_description/meshes/arm_tiago_pro/arm_4_link_collision.stl" scale="1 1 1"/>
      </geometry>
    </collision>
  </link>
  <!-- ARM 4 JOINT -->
  <joint name="arm_left_4_joint" type="revolute">
    <origin rpy="0 1.5708 0" xyz="0 0.02 0.18"/>
    <parent link="arm_left_3_link"/>
    <child link="arm_left_4_link"/>
    <axis xyz="0 0 1"/>
    <limit effort="26" lower="-2.4399702942880728" upper="1.1000810275320259" velocity="2.35"/>
    <dynamics damping="1.0" friction="1.0"/>
    <safety_controller k_position="20" k_velocity="20" soft_lower_limit="-2.369970294288073" soft_upper_limit="1.0300810275320258"/>
  </joint>
  <!-- ARM 5 LINK -->
  <link name="arm_left_5_link">
    <inertial>
      <origin rpy="0 0 0" xyz="0.0004859 0.00014289 0.129"/>
      <mass value="0.52538"/>
      <inertia ixx="0.0019111" ixy="-1.4245E-08" ixz="3.8663E-05" iyy="0.0018565" iyz="1.1356E-06" izz="0.00046496"/>
    </inertial>
    <visual>
      <origin rpy="0 0 0" xyz="0 0 0"/>
      <geometry>
        <mesh filename="package://example-robot-data/robots/tiago2_description/meshes/arm_tiago_pro/arm_5_link.stl" scale="1 1 1"/>
      </geometry>
      <material name="pal/DarkGrey"/>
    </visual>
    <collision>
      <origin rpy="0 0 0" xyz="0 0 0"/>
      <geometry>
        <mesh filename="package://example-robot-data/robots/tiago2_description/meshes/arm_tiago_pro/arm_5_link_collision.stl" scale="1 1 1"/>
      </geometry>
    </collision>
  </link>
  <!-- ARM 5 JOINT -->
  <joint name="arm_left_5_joint" type="revolute">
    <origin rpy="0 -1.5708 0" xyz="-0.15 -0.02 0"/>
    <parent link="arm_left_4_link"/>
    <child link="arm_left_5_link"/>
    <axis xyz="0 0 1"/>
    <limit effort="26" lower="-2.6000169866959526" upper="2.6000169866959526" velocity="2.35"/>
    <dynamics damping="1.0" friction="1.0"/>
    <safety_controller k_position="20" k_velocity="20" soft_lower_limit="-2.5300169866959528" soft_upper_limit="2.5300169866959528"/>
  </joint>
  <!-- ARM 6 LINK -->
  <link name="arm_left_6_link">
    <inertial>
      <origin rpy="0 0 0" xyz="-0.086822 -7.7905E-06 0.0045258"/>
      <mass value="0.66725"/>
      <inertia ixx="0.00035696" ixy="1.6019E-07" ixz="-9.5191E-05" iyy="0.00073846" iyz="2.118E-08" izz="0.00075321"/>
    </inertial>
    <visual>
      <origin rpy="0 0 0" xyz="0 0 0"/>
      <geometry>
        <mesh filename="package://example-robot-data/robots/tiago2_description/meshes/arm_tiago_pro/arm_6_link.stl" scale="1 1 1"/>
      </geometry>
      <material name="pal/DarkGrey"/>
    </visual>
    <collision>
      <origin rpy="0 0 0" xyz="0 0 0"/>
      <geometry>
        <mesh filename="package://example-robot-data/robots/tiago2_description/meshes/arm_tiago_pro/arm_6_link_collision.stl" scale="1 1 1"/>
      </geometry>
    </collision>
  </link>
  <!-- ARM 6 JOINT -->
  <joint name="arm_left_6_joint" type="revolute">
    <origin rpy="0 1.5708 0" xyz="0 0 0.185"/>
    <parent link="arm_left_5_link"/>
    <child link="arm_left_6_link"/>
    <axis xyz="0 0 1"/>
    <limit effort="26" lower="-1.9999727898603024" upper="1.9999727898603024" velocity="2.35"/>
    <dynamics damping="1.0" friction="1.0"/>
    <safety_controller k_position="20" k_velocity="20" soft_lower_limit="-1.9299727898603023" soft_upper_limit="1.9299727898603023"/>
  </joint>
  <!-- ARM 7 LINK -->
  <link name="arm_left_7_link">
    <inertial>
      <origin rpy="0 0 0" xyz="-6.764E-18 -1.4549E-16 0.018549"/>
      <mass value="0.10189"/>
      <inertia ixx="5.1076E-05" ixy="-1.0899E-21" ixz="-5.93E-21" iyy="5.0882E-05" iyz="-8.5344E-21" izz="9.705E-05"/>
    </inertial>
    <visual>
      <origin rpy="0 0 0" xyz="0 0 0"/>
      <geometry>
        <mesh filename="package://example-robot-data/robots/tiago2_description/meshes/arm_tiago_pro/arm_7_link.stl" scale="1 1 1"/>
      </geometry>
      <material name="pal/DarkGrey"/>
    </visual>
    <collision>
      <origin rpy="0 0 0" xyz="0 0 0"/>
      <geometry>
        <mesh filename="package://example-robot-data/robots/tiago2_description/meshes/arm_tiago_pro/arm_7_link_collision.stl" scale="1 1 1"/>
      </geometry>
    </collision>
  </link>
  <!-- ARM 7 JOINT -->
  <joint name="arm_left_7_joint" type="revolute">
    <origin rpy="0 -1.5708 0" xyz="-0.1166 0 0"/>
    <parent link="arm_left_6_link"/>
    <child link="arm_left_7_link"/>
    <axis xyz="0 0 1"/>
    <limit effort="26" lower="-2.6000169866959526" upper="2.6000169866959526" velocity="2.35"/>
    <dynamics damping="1.0" friction="1.0"/>
    <safety_controller k_position="20" k_velocity="20" soft_lower_limit="-2.5300169866959528" soft_upper_limit="2.5300169866959528"/>
  </joint>
  <!--***********************-->
  <!--        TOOL           -->
  <!--***********************-->
  <link name="arm_left_tool_link">
    <inertial>
      <origin rpy="0 0 0" xyz="5.0493E-18 -4.4892E-17 -0.0068514"/>
      <mass value="0.10189"/>
      <inertia ixx="5.1076E-05" ixy="-1.0374E-21" ixz="-5.9164E-21" iyy="5.0882E-05" iyz="-8.5211E-21" izz="9.705E-05"/>
    </inertial>
    <visual>
      <origin rpy="0 1.5707963267948966 0" xyz="0.001 0 0"/>
      <geometry>
        <cylinder length="0.01" radius="0.032"/>
      </geometry>
      <material name="pal/DarkGrey"/>
    </visual>
    <collision>
      <origin rpy="0 1.5707963267948966 0" xyz="0.001 0 0"/>
      <geometry>
        <cylinder length="0.01" radius="0.032"/>
      </geometry>
    </collision>
  </link>
  <joint name="arm_left_tool_joint" type="fixed">
    <parent link="arm_left_7_link"/>
    <child link="arm_left_tool_link"/>
    <origin rpy="0 -1.5707963267948966 1.5707963267948966" xyz="0 0 0.0184"/>
  </joint>
  <gazebo reference="arm_left_1_link">
    <material>Gazebo/DarkGrey</material>
    <mu1>0.9</mu1>
    <mu2>0.9</mu2>
  </gazebo>
  <gazebo reference="arm_left_2_link">
    <material>Gazebo/DarkGrey</material>
    <mu1>0.9</mu1>
    <mu2>0.9</mu2>
  </gazebo>
  <gazebo reference="arm_left_3_link">
    <material>Gazebo/DarkGrey</material>
    <mu1>0.9</mu1>
    <mu2>0.9</mu2>
  </gazebo>
  <gazebo reference="arm_left_4_link">
    <material>Gazebo/DarkGrey</material>
    <mu1>0.9</mu1>
    <mu2>0.9</mu2>
  </gazebo>
  <gazebo reference="arm_left_5_link">
    <material>Gazebo/DarkGrey</material>
    <mu1>0.9</mu1>
    <mu2>0.9</mu2>
  </gazebo>
  <gazebo reference="arm_left_6_link">
    <material>Gazebo/DarkGrey</material>
    <mu1>0.9</mu1>
    <mu2>0.9</mu2>
  </gazebo>
  <gazebo reference="arm_left_7_link">
    <material>Gazebo/DarkGrey</material>
    <mu1>0.9</mu1>
    <mu2>0.9</mu2>
  </gazebo>
  <gazebo reference="arm_left_1_joint">
    <implicitSpringDamper>1</implicitSpringDamper>
  </gazebo>
  <gazebo reference="arm_left_2_joint">
    <implicitSpringDamper>1</implicitSpringDamper>
  </gazebo>
  <gazebo reference="arm_left_3_joint">
    <implicitSpringDamper>1</implicitSpringDamper>
  </gazebo>
  <gazebo reference="arm_left_4_joint">
    <implicitSpringDamper>1</implicitSpringDamper>
  </gazebo>
  <gazebo reference="arm_left_5_joint">
    <implicitSpringDamper>1</implicitSpringDamper>
  </gazebo>
  <gazebo reference="arm_left_6_joint">
    <implicitSpringDamper>1</implicitSpringDamper>
  </gazebo>
  <gazebo reference="arm_left_7_joint">
    <implicitSpringDamper>1</implicitSpringDamper>
    <provideFeedback>1</provideFeedback>
  </gazebo>
  <transmission name="arm_left_1_trans">
    <type>sea_transmissions/SeaSimpleTransmission</type>
    <actuator name="arm_left_1_motor">
      <mechanicalReduction>121.0</mechanicalReduction>
    </actuator>
    <joint name="arm_left_1_joint">
      <actuators_data_ns>/actuators_data/arm_left_1_motor</actuators_data_ns>
      <joint_offset_ns>/arm_left_1_motor/output_offset</joint_offset_ns>
      <hardwareInterface>hardware_interface/PositionJointInterface</hardwareInterface>
      <hardwareInterface>hardware_interface/VelocityJointInterface</hardwareInterface>
      <hardwareInterface>hardware_interface/EffortJointInterface</hardwareInterface>
      <hardwareInterface>hardware_interface/JointStateInterface</hardwareInterface>
    </joint>
  </transmission>
  <transmission name="arm_left_2_trans">
    <type>sea_transmissions/SeaSimpleTransmission</type>
    <actuator name="arm_left_2_motor">
      <mechanicalReduction>121.0</mechanicalReduction>
    </actuator>
    <joint name="arm_left_2_joint">
      <actuators_data_ns>/actuators_data/arm_left_2_motor</actuators_data_ns>
      <joint_offset_ns>/arm_left_2_motor/output_offset</joint_offset_ns>
      <hardwareInterface>hardware_interface/PositionJointInterface</hardwareInterface>
      <hardwareInterface>hardware_interface/VelocityJointInterface</hardwareInterface>
      <hardwareInterface>hardware_interface/EffortJointInterface</hardwareInterface>
      <hardwareInterface>hardware_interface/JointStateInterface</hardwareInterface>
    </joint>
  </transmission>
  <transmission name="arm_left_3_trans">
    <type>sea_transmissions/SeaSimpleTransmission</type>
    <actuator name="arm_left_3_motor">
      <mechanicalReduction>101.0</mechanicalReduction>
    </actuator>
    <joint name="arm_left_3_joint">
      <actuators_data_ns>/actuators_data/arm_left_3_motor</actuators_data_ns>
      <joint_offset_ns>/arm_left_3_motor/output_offset</joint_offset_ns>
      <hardwareInterface>hardware_interface/PositionJointInterface</hardwareInterface>
      <hardwareInterface>hardware_interface/VelocityJointInterface</hardwareInterface>
      <hardwareInterface>hardware_interface/EffortJointInterface</hardwareInterface>
      <hardwareInterface>hardware_interface/JointStateInterface</hardwareInterface>
    </joint>
  </transmission>
  <transmission name="arm_left_4_trans">
    <type>sea_transmissions/SeaSimpleTransmission</type>
    <actuator name="arm_left_4_motor">
      <mechanicalReduction>101.0</mechanicalReduction>
    </actuator>
    <joint name="arm_left_4_joint">
      <actuators_data_ns>/actuators_data/arm_left_4_motor</actuators_data_ns>
      <joint_offset_ns>/arm_left_4_motor/output_offset</joint_offset_ns>
      <hardwareInterface>hardware_interface/PositionJointInterface</hardwareInterface>
      <hardwareInterface>hardware_interface/VelocityJointInterface</hardwareInterface>
      <hardwareInterface>hardware_interface/EffortJointInterface</hardwareInterface>
      <hardwareInterface>hardware_interface/JointStateInterface</hardwareInterface>
    </joint>
  </transmission>
  <transmission name="arm_left_5_trans">
    <type>sea_transmissions/SeaSimpleTransmission</type>
    <actuator name="arm_left_5_motor">
      <mechanicalReduction>101.0</mechanicalReduction>
    </actuator>
    <joint name="arm_left_5_joint">
      <actuators_data_ns>/actuators_data/arm_left_5_motor</actuators_data_ns>
      <joint_offset_ns>/arm_left_5_motor/output_offset</joint_offset_ns>
      <hardwareInterface>hardware_interface/PositionJointInterface</hardwareInterface>
      <hardwareInterface>hardware_interface/VelocityJointInterface</hardwareInterface>
      <hardwareInterface>hardware_interface/EffortJointInterface</hardwareInterface>
      <hardwareInterface>hardware_interface/JointStateInterface</hardwareInterface>
    </joint>
  </transmission>
  <transmission name="arm_left_6_trans">
    <type>sea_transmissions/SeaSimpleTransmission</type>
    <actuator name="arm_left_6_motor">
      <mechanicalReduction>101.0</mechanicalReduction>
    </actuator>
    <joint name="arm_left_6_joint">
      <actuators_data_ns>/actuators_data/arm_left_6_motor</actuators_data_ns>
      <joint_offset_ns>/arm_left_6_motor/output_offset</joint_offset_ns>
      <hardwareInterface>hardware_interface/PositionJointInterface</hardwareInterface>
      <hardwareInterface>hardware_interface/VelocityJointInterface</hardwareInterface>
      <hardwareInterface>hardware_interface/EffortJointInterface</hardwareInterface>
      <hardwareInterface>hardware_interface/JointStateInterface</hardwareInterface>
    </joint>
  </transmission>
  <transmission name="arm_left_7_trans">
    <type>sea_transmissions/SeaSimpleTransmission</type>
    <actuator name="arm_left_7_motor">
      <mechanicalReduction>101.0</mechanicalReduction>
    </actuator>
    <joint name="arm_left_7_joint">
      <actuators_data_ns>/actuators_data/arm_left_7_motor</actuators_data_ns>
      <joint_offset_ns>/arm_left_7_motor/output_offset</joint_offset_ns>
      <hardwareInterface>hardware_interface/PositionJointInterface</hardwareInterface>
      <hardwareInterface>hardware_interface/VelocityJointInterface</hardwareInterface>
      <hardwareInterface>hardware_interface/EffortJointInterface</hardwareInterface>
      <hardwareInterface>hardware_interface/JointStateInterface</hardwareInterface>
    </joint>
  </transmission>
  <!-- ARM 1 LINK -->
  <link name="arm_right_1_link">
    <inertial>
      <origin rpy="0 0 0" xyz="0.0023908 0.015901 0.1545"/>
      <mass value="1.0816"/>
      <inertia ixx="0.0024426" ixy="2.3307E-05" ixz="5.9333E-05" iyy="0.0023089" iyz="-0.00020369" izz="0.00092843"/>
    </inertial>
    <visual>
      <origin rpy="0 0 0" xyz="0 0 0"/>
      <geometry>
        <mesh filename="package://example-robot-data/robots/tiago2_description/meshes/arm_tiago_pro/arm_1_link.stl" scale="1 1 1"/>
      </geometry>
      <material name="pal/DarkGrey"/>
    </visual>
    <collision>
      <origin rpy="0 0 0" xyz="0 0 0"/>
      <geometry>
        <mesh filename="package://example-robot-data/robots/tiago2_description/meshes/arm_tiago_pro/arm_1_link_collision.stl" scale="1 1 1"/>
      </geometry>
    </collision>
  </link>
  <!-- ARM 1 JOINT -->
  <joint name="arm_right_1_joint" type="revolute">
    <origin rpy="-2.0679 -0.0 -1.9198899999999999" xyz="0.08976 -0.15918 -0.092008"/>
    <parent link="torso_lift_link"/>
    <child link="arm_right_1_link"/>
    <axis xyz="0 0 1"/>
    <limit effort="43.0" lower="-2.6000169866959526" upper="2.6000169866959526" velocity="1.95"/>
    <dynamics damping="1.0" friction="1.0"/>
    <safety_controller k_position="20" k_velocity="20" soft_lower_limit="-148.9" soft_upper_limit="148.9"/>
  </joint>
  <!-- ARM 2 LINK -->
  <link name="arm_right_2_link">
    <inertial>
      <origin rpy="0 0 0" xyz="-0.11649 -0.017864 0.0053772"/>
      <mass value="0.99204"/>
      <inertia ixx="0.00077294" ixy="-0.00011001" ixz="-0.00016136" iyy="0.0014605" iyz="-1.3224E-05" izz="0.0015605"/>
    </inertial>
    <visual>
      <origin rpy="0 0 0" xyz="0 0 0"/>
      <geometry>
        <mesh filename="package://example-robot-data/robots/tiago2_description/meshes/arm_tiago_pro/arm_2_link.stl" scale="1 1 1"/>
      </geometry>
      <material name="pal/DarkGrey"/>
    </visual>
    <collision>
      <origin rpy="0 0 0" xyz="0 0 0"/>
      <geometry>
        <mesh filename="package://example-robot-data/robots/tiago2_description/meshes/arm_tiago_pro/arm_2_link_collision.stl" scale="1 1 1"/>
      </geometry>
    </collision>
  </link>
  <!-- ARM 2 JOINT -->
  <joint name="arm_right_2_joint" type="revolute">
    <origin rpy="0 1.5708 0" xyz="0.0 0.02 0.18"/>
    <parent link="arm_right_1_link"/>
    <child link="arm_right_2_link"/>
    <axis xyz="0 0 1"/>
    <limit effort="43.0" lower="-2.4399702942880728" upper="1.1000810275320259" velocity="1.95"/>
    <dynamics damping="1.0" friction="1.0"/>
    <safety_controller k_position="20" k_velocity="20" soft_lower_limit="-2.369970294288073" soft_upper_limit="1.0300810275320258"/>
  </joint>
  <!-- ARM 3 LINK -->
  <link name="arm_right_3_link">
    <inertial>
      <origin rpy="0 0 0" xyz="0.0023908 0.015901 0.1545"/>
      <mass value="1.0816"/>
      <inertia ixx="0.0024426" ixy="2.3307E-05" ixz="5.9333E-05" iyy="0.0023089" iyz="-0.00020369" izz="0.00092843"/>
    </inertial>
    <visual>
      <origin rpy="0 0 0" xyz="0 0 0"/>
      <geometry>
        <mesh filename="package://example-robot-data/robots/tiago2_description/meshes/arm_tiago_pro/arm_3_link.stl" scale="1 1 1"/>
      </geometry>
      <material name="pal/DarkGrey"/>
    </visual>
    <collision>
      <origin rpy="0 0 0" xyz="0 0 0"/>
      <geometry>
        <mesh filename="package://example-robot-data/robots/tiago2_description/meshes/arm_tiago_pro/arm_3_link_collision.stl" scale="1 1 1"/>
      </geometry>
    </collision>
  </link>
  <!-- ARM 3 JOINT -->
  <joint name="arm_right_3_joint" type="revolute">
    <origin rpy="3.1415 1.5707 0" xyz="-0.15 -0.02 0"/>
    <parent link="arm_right_2_link"/>
    <child link="arm_right_3_link"/>
    <axis xyz="0 0 1"/>
    <limit effort="26" lower="-2.6000169866959526" upper="2.6000169866959526" velocity="2.35"/>
    <dynamics damping="1.0" friction="1.0"/>
    <safety_controller k_position="20" k_velocity="20" soft_lower_limit="-2.5300169866959528" soft_upper_limit="2.5300169866959528"/>
  </joint>
  <!-- ARM 4 LINK -->
  <link name="arm_right_4_link">
    <inertial>
      <origin rpy="0 0 0" xyz="-0.11649 -0.017864 0.0053772"/>
      <mass value="0.99204"/>
      <inertia ixx="0.00077294" ixy="-0.00011001" ixz="-0.00016136" iyy="0.0014605" iyz="-1.3224E-05" izz="0.0015605"/>
    </inertial>
    <visual>
      <origin rpy="0 0 0" xyz="0 0 0"/>
      <geometry>
        <mesh filename="package://example-robot-data/robots/tiago2_description/meshes/arm_tiago_pro/arm_4_link.stl" scale="1 1 1"/>
      </geometry>
      <material name="pal/DarkGrey"/>
    </visual>
    <collision>
      <origin rpy="0 0 0" xyz="0 0 0"/>
      <geometry>
        <mesh filename="package://example-robot-data/robots/tiago2_description/meshes/arm_tiago_pro/arm_4_link_collision.stl" scale="1 1 1"/>
      </geometry>
    </collision>
  </link>
  <!-- ARM 4 JOINT -->
  <joint name="arm_right_4_joint" type="revolute">
    <origin rpy="0 1.5708 0" xyz="0 0.02 0.18"/>
    <parent link="arm_right_3_link"/>
    <child link="arm_right_4_link"/>
    <axis xyz="0 0 1"/>
    <limit effort="26" lower="-2.4399702942880728" upper="1.1000810275320259" velocity="2.35"/>
    <dynamics damping="1.0" friction="1.0"/>
    <safety_controller k_position="20" k_velocity="20" soft_lower_limit="-2.369970294288073" soft_upper_limit="1.0300810275320258"/>
  </joint>
  <!-- ARM 5 LINK -->
  <link name="arm_right_5_link">
    <inertial>
      <origin rpy="0 0 0" xyz="0.0004859 0.00014289 0.129"/>
      <mass value="0.52538"/>
      <inertia ixx="0.0019111" ixy="-1.4245E-08" ixz="3.8663E-05" iyy="0.0018565" iyz="1.1356E-06" izz="0.00046496"/>
    </inertial>
    <visual>
      <origin rpy="0 0 0" xyz="0 0 0"/>
      <geometry>
        <mesh filename="package://example-robot-data/robots/tiago2_description/meshes/arm_tiago_pro/arm_5_link.stl" scale="1 1 1"/>
      </geometry>
      <material name="pal/DarkGrey"/>
    </visual>
    <collision>
      <origin rpy="0 0 0" xyz="0 0 0"/>
      <geometry>
        <mesh filename="package://example-robot-data/robots/tiago2_description/meshes/arm_tiago_pro/arm_5_link_collision.stl" scale="1 1 1"/>
      </geometry>
    </collision>
  </link>
  <!-- ARM 5 JOINT -->
  <joint name="arm_right_5_joint" type="revolute">
    <origin rpy="0 -1.5708 0" xyz="-0.15 -0.02 0"/>
    <parent link="arm_right_4_link"/>
    <child link="arm_right_5_link"/>
    <axis xyz="0 0 1"/>
    <limit effort="26" lower="-2.6000169866959526" upper="2.6000169866959526" velocity="2.35"/>
    <dynamics damping="1.0" friction="1.0"/>
    <safety_controller k_position="20" k_velocity="20" soft_lower_limit="-2.5300169866959528" soft_upper_limit="2.5300169866959528"/>
  </joint>
  <!-- ARM 6 LINK -->
  <link name="arm_right_6_link">
    <inertial>
      <origin rpy="0 0 0" xyz="-0.086822 -7.7905E-06 0.0045258"/>
      <mass value="0.66725"/>
      <inertia ixx="0.00035696" ixy="1.6019E-07" ixz="-9.5191E-05" iyy="0.00073846" iyz="2.118E-08" izz="0.00075321"/>
    </inertial>
    <visual>
      <origin rpy="0 0 0" xyz="0 0 0"/>
      <geometry>
        <mesh filename="package://example-robot-data/robots/tiago2_description/meshes/arm_tiago_pro/arm_6_link.stl" scale="1 1 1"/>
      </geometry>
      <material name="pal/DarkGrey"/>
    </visual>
    <collision>
      <origin rpy="0 0 0" xyz="0 0 0"/>
      <geometry>
        <mesh filename="package://example-robot-data/robots/tiago2_description/meshes/arm_tiago_pro/arm_6_link_collision.stl" scale="1 1 1"/>
      </geometry>
    </collision>
  </link>
  <!-- ARM 6 JOINT -->
  <joint name="arm_right_6_joint" type="revolute">
    <origin rpy="0 1.5708 0" xyz="0 0 0.185"/>
    <parent link="arm_right_5_link"/>
    <child link="arm_right_6_link"/>
    <axis xyz="0 0 1"/>
    <limit effort="26" lower="-1.9999727898603024" upper="1.9999727898603024" velocity="2.35"/>
    <dynamics damping="1.0" friction="1.0"/>
    <safety_controller k_position="20" k_velocity="20" soft_lower_limit="-1.9299727898603023" soft_upper_limit="1.9299727898603023"/>
  </joint>
  <!-- ARM 7 LINK -->
  <link name="arm_right_7_link">
    <inertial>
      <origin rpy="0 0 0" xyz="-6.764E-18 -1.4549E-16 0.018549"/>
      <mass value="0.10189"/>
      <inertia ixx="5.1076E-05" ixy="-1.0899E-21" ixz="-5.93E-21" iyy="5.0882E-05" iyz="-8.5344E-21" izz="9.705E-05"/>
    </inertial>
    <visual>
      <origin rpy="0 0 0" xyz="0 0 0"/>
      <geometry>
        <mesh filename="package://example-robot-data/robots/tiago2_description/meshes/arm_tiago_pro/arm_7_link.stl" scale="1 1 1"/>
      </geometry>
      <material name="pal/DarkGrey"/>
    </visual>
    <collision>
      <origin rpy="0 0 0" xyz="0 0 0"/>
      <geometry>
        <mesh filename="package://example-robot-data/robots/tiago2_description/meshes/arm_tiago_pro/arm_7_link_collision.stl" scale="1 1 1"/>
      </geometry>
    </collision>
  </link>
  <!-- ARM 7 JOINT -->
  <joint name="arm_right_7_joint" type="revolute">
    <origin rpy="0 -1.5708 0" xyz="-0.1166 0 0"/>
    <parent link="arm_right_6_link"/>
    <child link="arm_right_7_link"/>
    <axis xyz="0 0 1"/>
    <limit effort="26" lower="-2.6000169866959526" upper="2.6000169866959526" velocity="2.35"/>
    <dynamics damping="1.0" friction="1.0"/>
    <safety_controller k_position="20" k_velocity="20" soft_lower_limit="-2.5300169866959528" soft_upper_limit="2.5300169866959528"/>
  </joint>
  <!--***********************-->
  <!--        TOOL           -->
  <!--***********************-->
  <link name="arm_right_tool_link">
    <inertial>
      <origin rpy="0 0 0" xyz="5.0493E-18 -4.4892E-17 -0.0068514"/>
      <mass value="0.10189"/>
      <inertia ixx="5.1076E-05" ixy="-1.0374E-21" ixz="-5.9164E-21" iyy="5.0882E-05" iyz="-8.5211E-21" izz="9.705E-05"/>
    </inertial>
    <visual>
      <origin rpy="0 1.5707963267948966 0" xyz="0.001 0 0"/>
      <geometry>
        <cylinder length="0.01" radius="0.032"/>
      </geometry>
      <material name="pal/DarkGrey"/>
    </visual>
    <collision>
      <origin rpy="0 1.5707963267948966 0" xyz="0.001 0 0"/>
      <geometry>
        <cylinder length="0.01" radius="0.032"/>
      </geometry>
    </collision>
  </link>
  <joint name="arm_right_tool_joint" type="fixed">
    <parent link="arm_right_7_link"/>
    <child link="arm_right_tool_link"/>
    <origin rpy="0 -1.5707963267948966 1.5707963267948966" xyz="0 0 0.0184"/>
  </joint>
  <gazebo reference="arm_right_1_link">
    <material>Gazebo/DarkGrey</material>
    <mu1>0.9</mu1>
    <mu2>0.9</mu2>
  </gazebo>
  <gazebo reference="arm_right_2_link">
    <material>Gazebo/DarkGrey</material>
    <mu1>0.9</mu1>
    <mu2>0.9</mu2>
  </gazebo>
  <gazebo reference="arm_right_3_link">
    <material>Gazebo/DarkGrey</material>
    <mu1>0.9</mu1>
    <mu2>0.9</mu2>
  </gazebo>
  <gazebo reference="arm_right_4_link">
    <material>Gazebo/DarkGrey</material>
    <mu1>0.9</mu1>
    <mu2>0.9</mu2>
  </gazebo>
  <gazebo reference="arm_right_5_link">
    <material>Gazebo/DarkGrey</material>
    <mu1>0.9</mu1>
    <mu2>0.9</mu2>
  </gazebo>
  <gazebo reference="arm_right_6_link">
    <material>Gazebo/DarkGrey</material>
    <mu1>0.9</mu1>
    <mu2>0.9</mu2>
  </gazebo>
  <gazebo reference="arm_right_7_link">
    <material>Gazebo/DarkGrey</material>
    <mu1>0.9</mu1>
    <mu2>0.9</mu2>
  </gazebo>
  <gazebo reference="arm_right_1_joint">
    <implicitSpringDamper>1</implicitSpringDamper>
  </gazebo>
  <gazebo reference="arm_right_2_joint">
    <implicitSpringDamper>1</implicitSpringDamper>
  </gazebo>
  <gazebo reference="arm_right_3_joint">
    <implicitSpringDamper>1</implicitSpringDamper>
  </gazebo>
  <gazebo reference="arm_right_4_joint">
    <implicitSpringDamper>1</implicitSpringDamper>
  </gazebo>
  <gazebo reference="arm_right_5_joint">
    <implicitSpringDamper>1</implicitSpringDamper>
  </gazebo>
  <gazebo reference="arm_right_6_joint">
    <implicitSpringDamper>1</implicitSpringDamper>
  </gazebo>
  <gazebo reference="arm_right_7_joint">
    <implicitSpringDamper>1</implicitSpringDamper>
    <provideFeedback>1</provideFeedback>
  </gazebo>
  <transmission name="arm_right_1_trans">
    <type>sea_transmissions/SeaSimpleTransmission</type>
    <actuator name="arm_right_1_motor">
      <mechanicalReduction>121.0</mechanicalReduction>
    </actuator>
    <joint name="arm_right_1_joint">
      <actuators_data_ns>/actuators_data/arm_right_1_motor</actuators_data_ns>
      <joint_offset_ns>/arm_right_1_motor/output_offset</joint_offset_ns>
      <hardwareInterface>hardware_interface/PositionJointInterface</hardwareInterface>
      <hardwareInterface>hardware_interface/VelocityJointInterface</hardwareInterface>
      <hardwareInterface>hardware_interface/EffortJointInterface</hardwareInterface>
      <hardwareInterface>hardware_interface/JointStateInterface</hardwareInterface>
    </joint>
  </transmission>
  <transmission name="arm_right_2_trans">
    <type>sea_transmissions/SeaSimpleTransmission</type>
    <actuator name="arm_right_2_motor">
      <mechanicalReduction>121.0</mechanicalReduction>
    </actuator>
    <joint name="arm_right_2_joint">
      <actuators_data_ns>/actuators_data/arm_right_2_motor</actuators_data_ns>
      <joint_offset_ns>/arm_right_2_motor/output_offset</joint_offset_ns>
      <hardwareInterface>hardware_interface/PositionJointInterface</hardwareInterface>
      <hardwareInterface>hardware_interface/VelocityJointInterface</hardwareInterface>
      <hardwareInterface>hardware_interface/EffortJointInterface</hardwareInterface>
      <hardwareInterface>hardware_interface/JointStateInterface</hardwareInterface>
    </joint>
  </transmission>
  <transmission name="arm_right_3_trans">
    <type>sea_transmissions/SeaSimpleTransmission</type>
    <actuator name="arm_right_3_motor">
      <mechanicalReduction>101.0</mechanicalReduction>
    </actuator>
    <joint name="arm_right_3_joint">
      <actuators_data_ns>/actuators_data/arm_right_3_motor</actuators_data_ns>
      <joint_offset_ns>/arm_right_3_motor/output_offset</joint_offset_ns>
      <hardwareInterface>hardware_interface/PositionJointInterface</hardwareInterface>
      <hardwareInterface>hardware_interface/VelocityJointInterface</hardwareInterface>
      <hardwareInterface>hardware_interface/EffortJointInterface</hardwareInterface>
      <hardwareInterface>hardware_interface/JointStateInterface</hardwareInterface>
    </joint>
  </transmission>
  <transmission name="arm_right_4_trans">
    <type>sea_transmissions/SeaSimpleTransmission</type>
    <actuator name="arm_right_4_motor">
      <mechanicalReduction>101.0</mechanicalReduction>
    </actuator>
    <joint name="arm_right_4_joint">
      <actuators_data_ns>/actuators_data/arm_right_4_motor</actuators_data_ns>
      <joint_offset_ns>/arm_right_4_motor/output_offset</joint_offset_ns>
      <hardwareInterface>hardware_interface/PositionJointInterface</hardwareInterface>
      <hardwareInterface>hardware_interface/VelocityJointInterface</hardwareInterface>
      <hardwareInterface>hardware_interface/EffortJointInterface</hardwareInterface>
      <hardwareInterface>hardware_interface/JointStateInterface</hardwareInterface>
    </joint>
  </transmission>
  <transmission name="arm_right_5_trans">
    <type>sea_transmissions/SeaSimpleTransmission</type>
    <actuator name="arm_right_5_motor">
      <mechanicalReduction>101.0</mechanicalReduction>
    </actuator>
    <joint name="arm_right_5_joint">
      <actuators_data_ns>/actuators_data/arm_right_5_motor</actuators_data_ns>
      <joint_offset_ns>/arm_right_5_motor/output_offset</joint_offset_ns>
      <hardwareInterface>hardware_interface/PositionJointInterface</hardwareInterface>
      <hardwareInterface>hardware_interface/VelocityJointInterface</hardwareInterface>
      <hardwareInterface>hardware_interface/EffortJointInterface</hardwareInterface>
      <hardwareInterface>hardware_interface/JointStateInterface</hardwareInterface>
    </joint>
  </transmission>
  <transmission name="arm_right_6_trans">
    <type>sea_transmissions/SeaSimpleTransmission</type>
    <actuator name="arm_right_6_motor">
      <mechanicalReduction>101.0</mechanicalReduction>
    </actuator>
    <joint name="arm_right_6_joint">
      <actuators_data_ns>/actuators_data/arm_right_6_motor</actuators_data_ns>
      <joint_offset_ns>/arm_right_6_motor/output_offset</joint_offset_ns>
      <hardwareInterface>hardware_interface/PositionJointInterface</hardwareInterface>
      <hardwareInterface>hardware_interface/VelocityJointInterface</hardwareInterface>
      <hardwareInterface>hardware_interface/EffortJointInterface</hardwareInterface>
      <hardwareInterface>hardware_interface/JointStateInterface</hardwareInterface>
    </joint>
  </transmission>
  <transmission name="arm_right_7_trans">
    <type>sea_transmissions/SeaSimpleTransmission</type>
    <actuator name="arm_right_7_motor">
      <mechanicalReduction>101.0</mechanicalReduction>
    </actuator>
    <joint name="arm_right_7_joint">
      <actuators_data_ns>/actuators_data/arm_right_7_motor</actuators_data_ns>
      <joint_offset_ns>/arm_right_7_motor/output_offset</joint_offset_ns>
      <hardwareInterface>hardware_interface/PositionJointInterface</hardwareInterface>
      <hardwareInterface>hardware_interface/VelocityJointInterface</hardwareInterface>
      <hardwareInterface>hardware_interface/EffortJointInterface</hardwareInterface>
      <hardwareInterface>hardware_interface/JointStateInterface</hardwareInterface>
    </joint>
  </transmission>
  <!--************************-->
  <!--        ft sensor       -->
  <!--************************-->
  <link name="wrist_right_ft_link">
    <inertial>
      <mass value="0.2657"/>
      <inertia ixx="2.9766E-04" ixy="1.87E-06" ixz="8.95E-06" iyy="3.095E-04" iyz="2.07E-06" izz="1.6632E-04"/>
    </inertial>
    <visual>
      <origin rpy="0.0 0.0 0.0" xyz="0.0 0.0 0.0"/>
      <geometry>
        <mesh filename="package://example-robot-data/robots/tiago2_description/meshes/sensors/rokubi_ft_sensor.stl"/>
      </geometry>
      <material name="">
        <color rgba="0.29804 0.29804 0.29804 1"/>
      </material>
    </visual>
    <collision>
      <origin rpy="0 0 0" xyz="0 0 -0.030"/>
      <geometry>
        <cylinder length="0.05" radius="0.035"/>
      </geometry>
    </collision>
    <collision>
      <origin rpy="0 0 0.4363323129985824" xyz="0.035 0.011 -0.035"/>
      <geometry>
        <box size="0.0395 0.0496 0.053"/>
      </geometry>
    </collision>
  </link>
  <gazebo reference="wrist_right_ft_link">
    <material>Gazebo/DarkGrey</material>
    <mu1>0.9</mu1>
    <mu2>0.9</mu2>
  </gazebo>
  <joint name="wrist_right_ft_joint" type="fixed">
    <parent link="arm_right_tool_link"/>
    <child link="wrist_right_ft_link"/>
    <origin rpy="-1.5707963267948966 0.7853981633974483 -1.5707963267948966" xyz="0.045 0 0"/>
  </joint>
  <!--***********************-->
  <!--       FT TOOL         -->
  <!--***********************-->
  <link name="wrist_right_ft_tool_link">
    <inertial>
      <mass value="0.1"/>
      <inertia ixx="1.64E-05" ixy="0.0" ixz="0.0" iyy="1.64E-05" iyz="0.0" izz="3.125E-05"/>
    </inertial>
    <visual>
      <origin rpy="0 1.5707963267948966 0" xyz="0.001 0 0"/>
      <geometry>
        <cylinder length="0.01" radius="0.032"/>
      </geometry>
      <material name="pal/DarkGrey"/>
    </visual>
    <collision>
      <origin rpy="0 1.5707963267948966 0" xyz="0.001 0 0"/>
      <geometry>
        <cylinder length="0.01" radius="0.032"/>
      </geometry>
    </collision>
  </link>
  <joint name="wrist_right_ft_tool_joint" type="fixed">
    <parent link="wrist_right_ft_link"/>
    <child link="wrist_right_ft_tool_link"/>
    <origin rpy="0.7853981633974483 -1.5707963267948966 0.0" xyz="0 0 0.005"/>
  </joint>
  <!--************************-->
  <!--        ft sensor       -->
  <!--************************-->
  <link name="wrist_left_ft_link">
    <inertial>
      <mass value="0.2657"/>
      <inertia ixx="2.9766E-04" ixy="1.87E-06" ixz="8.95E-06" iyy="3.095E-04" iyz="2.07E-06" izz="1.6632E-04"/>
    </inertial>
    <visual>
      <origin rpy="0.0 0.0 0.0" xyz="0.0 0.0 0.0"/>
      <geometry>
        <mesh filename="package://example-robot-data/robots/tiago2_description/meshes/sensors/rokubi_ft_sensor.stl"/>
      </geometry>
      <material name="">
        <color rgba="0.29804 0.29804 0.29804 1"/>
      </material>
    </visual>
    <collision>
      <origin rpy="0 0 0" xyz="0 0 -0.030"/>
      <geometry>
        <cylinder length="0.05" radius="0.035"/>
      </geometry>
    </collision>
    <collision>
      <origin rpy="0 0 0.4363323129985824" xyz="0.035 0.011 -0.035"/>
      <geometry>
        <box size="0.0395 0.0496 0.053"/>
      </geometry>
    </collision>
  </link>
  <gazebo reference="wrist_left_ft_link">
    <material>Gazebo/DarkGrey</material>
    <mu1>0.9</mu1>
    <mu2>0.9</mu2>
  </gazebo>
  <joint name="wrist_left_ft_joint" type="fixed">
    <parent link="arm_left_tool_link"/>
    <child link="wrist_left_ft_link"/>
    <origin rpy="-1.5707963267948966 0.7853981633974483 -1.5707963267948966" xyz="0.045 0 0"/>
  </joint>
  <!--***********************-->
  <!--       FT TOOL         -->
  <!--***********************-->
  <link name="wrist_left_ft_tool_link">
    <inertial>
      <mass value="0.1"/>
      <inertia ixx="1.64E-05" ixy="0.0" ixz="0.0" iyy="1.64E-05" iyz="0.0" izz="3.125E-05"/>
    </inertial>
    <visual>
      <origin rpy="0 1.5707963267948966 0" xyz="0.001 0 0"/>
      <geometry>
        <cylinder length="0.01" radius="0.032"/>
      </geometry>
      <material name="pal/DarkGrey"/>
    </visual>
    <collision>
      <origin rpy="0 1.5707963267948966 0" xyz="0.001 0 0"/>
      <geometry>
        <cylinder length="0.01" radius="0.032"/>
      </geometry>
    </collision>
  </link>
  <joint name="wrist_left_ft_tool_joint" type="fixed">
    <parent link="wrist_left_ft_link"/>
    <child link="wrist_left_ft_tool_link"/>
    <origin rpy="0.7853981633974483 -1.5707963267948966 0.0" xyz="0 0 0.005"/>
  </joint>
  <!-- <xacro:include filename="$(find pal_pro_gripper_description)/urdf/grasping_frames.xacro" /> -->
  <link name="gripper_left_base_link">
    <inertial>
      <origin rpy="0 0 0" xyz="6.0291E-05 -0.00013653 -0.0051371"/>
      <mass value="0.64278"/>
      <inertia ixx="0.00033701" ixy="-8.3235E-07" ixz="5.4122E-07" iyy="0.00042750" iyz="-4.3734E-07" izz="0.00048564"/>
    </inertial>
    <visual>
      <origin rpy="0 0 0" xyz="0 0 0"/>
      <geometry>
        <mesh filename="package://example-robot-data/robots/tiago2_description/meshes/pal_pro_gripper/base_link.stl"/>
      </geometry>
      <material name="pal/DarkGrey"/>
    </visual>
    <collision>
      <origin rpy="0 0 0" xyz="0 0 0"/>
      <geometry>
        <mesh filename="package://example-robot-data/robots/tiago2_description/meshes/pal_pro_gripper/base_link.stl"/>
      </geometry>
    </collision>
  </link>
  <joint name="gripper_left_base_joint" type="fixed">
    <origin rpy="0 1.5707963267948966 0" xyz="0.052 0.0 0.0"/>
    <parent link="wrist_left_ft_tool_link"/>
    <child link="gripper_left_base_link"/>
    <axis xyz="0 0 0"/>
  </joint>
  <gazebo reference="gripper_left_inner_finger_left_link">
    <material>Gazebo/White</material>
    <mu1>0.9</mu1>
    <mu2>0.9</mu2>
  </gazebo>
  <gazebo reference="gripper_left_inner_finger_right_link">
    <material>Gazebo/White</material>
    <mu1>0.9</mu1>
    <mu2>0.9</mu2>
  </gazebo>
  <gazebo reference="gripper_left_outer_finger_left_link">
    <material>Gazebo/White</material>
    <mu1>0.9</mu1>
    <mu2>0.9</mu2>
  </gazebo>
  <gazebo reference="gripper_left_outer_finger_right_link">
    <material>Gazebo/White</material>
    <mu1>0.9</mu1>
    <mu2>0.9</mu2>
  </gazebo>
  <gazebo reference="gripper_left_fingertip_right_link">
    <material>Gazebo/White</material>
    <mu1>0.9</mu1>
    <mu2>0.9</mu2>
  </gazebo>
  <gazebo reference="gripper_left_fingertip_left_link">
    <material>Gazebo/White</material>
    <mu1>0.9</mu1>
    <mu2>0.9</mu2>
  </gazebo>
  <gazebo reference="gripper_left_base_link">
    <material>Gazebo/DarkGrey</material>
    <mu1>0.9</mu1>
    <mu2>0.9</mu2>
  </gazebo>
  <gazebo reference="gripper_left_finger_joint">
    <implicitSpringDamper>1</implicitSpringDamper>
    <provideFeedback>1</provideFeedback>
  </gazebo>
  <link name="gripper_left_inner_finger_left_link">
    <inertial>
      <origin rpy="0 0 0" xyz="-1.7347E-18 0.024759 0"/>
      <mass value="0.018619"/>
      <inertia ixx="4.8806E-06" ixy="-7.6762E-22" ixz="1.0244E-22" iyy="2.5471E-07" iyz="-1.1841E-21" izz="4.9573E-06"/>
    </inertial>
    <visual>
      <origin rpy="0 0 0" xyz="0 0 0"/>
      <geometry>
        <mesh filename="package://example-robot-data/robots/tiago2_description/meshes/pal_pro_gripper/inner_finger.stl"/>
      </geometry>
      <material name="White"/>
    </visual>
    <collision>
      <origin rpy="0 0 0" xyz="0 0 0"/>
      <geometry>
        <mesh filename="package://example-robot-data/robots/tiago2_description/meshes/pal_pro_gripper/inner_finger.stl"/>
      </geometry>
    </collision>
  </link>
  <joint name="gripper_left_inner_finger_left_joint" type="revolute">
    <origin rpy="-1.5707963267948966 2.303834612632515 0" xyz="-0.013977 0 0.033032"/>
    <parent link="gripper_left_base_link"/>
    <child link="gripper_left_inner_finger_left_link"/>
    <axis xyz="0 0 1"/>
    <limit effort="0.1" lower="0" upper="0.9250245035569946" velocity="2"/>
    <mimic joint="gripper_left_finger_joint" multiplier="1" offset="0"/>
  </joint>
  <gazebo>
    <plugin filename="libroboticsgroup_upatras_gazebo_mimic_joint_plugin.so" name="gripper_left_left_mimic_pro_gripper_1_mimic_joint_plugin">
      <joint>gripper_left_finger_joint</joint>
      <mimicJoint>gripper_left_inner_finger_left_joint</mimicJoint>
      <multiplier>1.0</multiplier>
      <offset>0</offset>
      <sensitiveness>0.0</sensitiveness>
      <!-- if absolute difference between setpoint and process value is below this threshold, do nothing; 0.0 = disable [rad] -->
      <maxEffort>0.1</maxEffort>
    </plugin>
  </gazebo>
  <link name="gripper_left_outer_finger_left_link">
    <inertial>
      <origin rpy="0 0 0" xyz="-0.001283 0.014397 0"/>
      <mass value="0.015989"/>
      <inertia ixx="5.9879E-06" ixy="-5.2173E-07" ixz="5.9144E-23" iyy="4.8725E-07" iyz="7.3911E-23" izz="6.1497E-06"/>
    </inertial>
    <visual>
      <origin rpy="0 0 0" xyz="0 0 0"/>
      <geometry>
        <mesh filename="package://example-robot-data/robots/tiago2_description/meshes/pal_pro_gripper/outer_finger.stl"/>
      </geometry>
      <material name="White"/>
    </visual>
    <collision>
      <origin rpy="0 0 0" xyz="0 0 0"/>
      <geometry>
        <mesh filename="package://example-robot-data/robots/tiago2_description/meshes/pal_pro_gripper/outer_finger.stl"/>
      </geometry>
    </collision>
  </link>
  <joint name="gripper_left_finger_joint" type="revolute">
    <origin rpy="-1.5707963267948966 2.303834612632515 0" xyz="-0.0288  0.00 0.0285"/>
    <parent link="gripper_left_base_link"/>
    <child link="gripper_left_outer_finger_left_link"/>
    <axis xyz="0 0 1"/>
    <limit effort="0.1" lower="0" upper="0.9250245035569946" velocity="2"/>
    <dynamics damping="0.03"/>
  </joint>
  <link name="gripper_left_fingertip_left_link">
    <inertial>
      <origin rpy="0 0 0" xyz="-6.9960E-04 0.01167 0.0"/>
      <mass value="0.03266"/>
      <inertia ixx="3.6361E-06" ixy="3.4071E-07" ixz="-1.4191E-14" iyy="1.7070E-06" iyz="-3.3433E-14" izz="2.8395E-06"/>
    </inertial>
    <visual>
      <origin rpy="0 0 0" xyz="0 0 0"/>
      <geometry>
        <mesh filename="package://example-robot-data/robots/tiago2_description/meshes/pal_pro_gripper/fingertip.stl"/>
      </geometry>
      <material name="White"/>
    </visual>
    <collision>
      <origin rpy="0 0 0" xyz="0 0 0"/>
      <geometry>
        <mesh filename="package://example-robot-data/robots/tiago2_description/meshes/pal_pro_gripper/fingertip.stl"/>
      </geometry>
    </collision>
  </link>
  <joint name="gripper_left_fingertip_left_joint" type="revolute">
    <origin rpy="0 0 0.8377580409572782" xyz="0 0.05 0.000"/>
    <parent link="gripper_left_inner_finger_left_link"/>
    <child link="gripper_left_fingertip_left_link"/>
    <axis xyz="0 0 1"/>
    <limit effort="0.1" lower="-0.9250245035569946" upper="0" velocity="2"/>
    <mimic joint="gripper_left_finger_joint" multiplier="-1" offset="0"/>
  </joint>
  <gazebo>
    <plugin filename="libroboticsgroup_upatras_gazebo_mimic_joint_plugin.so" name="gripper_left_left_mimic_pro_gripper_3_mimic_joint_plugin">
      <joint>gripper_left_finger_joint</joint>
      <mimicJoint>gripper_left_fingertip_left_joint</mimicJoint>
      <multiplier>-1.0</multiplier>
      <offset>0.0</offset>
      <sensitiveness>0.0</sensitiveness>
      <!-- if absolute difference between setpoint and process value is below this threshold, do nothing; 0.0 = disable [rad] -->
      <maxEffort>0.1</maxEffort>
    </plugin>
  </gazebo>
  <link name="gripper_left_inner_finger_right_link">
    <inertial>
      <origin rpy="0 0 0" xyz="-1.7347E-18 0.024759 0"/>
      <mass value="0.018619"/>
      <inertia ixx="4.8806E-06" ixy="-7.6762E-22" ixz="1.0244E-22" iyy="2.5471E-07" iyz="-1.1841E-21" izz="4.9573E-06"/>
    </inertial>
    <visual>
      <origin rpy="0 0 0" xyz="0 0 0"/>
      <geometry>
        <mesh filename="package://example-robot-data/robots/tiago2_description/meshes/pal_pro_gripper/inner_finger.stl"/>
      </geometry>
      <material name="White"/>
    </visual>
    <collision>
      <origin rpy="0 0 0" xyz="0 0 0"/>
      <geometry>
        <mesh filename="package://example-robot-data/robots/tiago2_description/meshes/pal_pro_gripper/inner_finger.stl"/>
      </geometry>
    </collision>
  </link>
  <joint name="gripper_left_inner_finger_right_joint" type="revolute">
    <origin rpy="1.5707963267948966 0.8377580409572782 0" xyz="0.013977 0 0.033032"/>
    <parent link="gripper_left_base_link"/>
    <child link="gripper_left_inner_finger_right_link"/>
    <axis xyz="0 0 1"/>
    <limit effort="0.1" lower="0" upper="0.9250245035569946" velocity="2"/>
    <mimic joint="gripper_left_finger_joint" multiplier="1" offset="0"/>
  </joint>
  <gazebo>
    <plugin filename="libroboticsgroup_upatras_gazebo_mimic_joint_plugin.so" name="gripper_left_right_mimic_pro_gripper_1_mimic_joint_plugin">
      <joint>gripper_left_finger_joint</joint>
      <mimicJoint>gripper_left_inner_finger_right_joint</mimicJoint>
      <multiplier>1.0</multiplier>
      <offset>0</offset>
      <sensitiveness>0.0</sensitiveness>
      <!-- if absolute difference between setpoint and process value is below this threshold, do nothing; 0.0 = disable [rad] -->
      <maxEffort>0.1</maxEffort>
    </plugin>
  </gazebo>
  <link name="gripper_left_outer_finger_right_link">
    <inertial>
      <origin rpy="0 0 0" xyz="-0.001283 0.014397 0"/>
      <mass value="0.015989"/>
      <inertia ixx="5.9879E-06" ixy="-5.2173E-07" ixz="5.9144E-23" iyy="4.8725E-07" iyz="7.3911E-23" izz="6.1497E-06"/>
    </inertial>
    <visual>
      <origin rpy="0 0 0" xyz="0 0 0"/>
      <geometry>
        <mesh filename="package://example-robot-data/robots/tiago2_description/meshes/pal_pro_gripper/outer_finger.stl"/>
      </geometry>
      <material name="White"/>
    </visual>
    <collision>
      <origin rpy="0 0 0" xyz="0 0 0"/>
      <geometry>
        <mesh filename="package://example-robot-data/robots/tiago2_description/meshes/pal_pro_gripper/outer_finger.stl"/>
      </geometry>
    </collision>
  </link>
  <joint name="gripper_left_outer_finger_right_joint" type="revolute">
    <origin rpy="1.5707963267948966 0.8377580409572782 0" xyz="0.0288  0.00 0.0285"/>
    <parent link="gripper_left_base_link"/>
    <child link="gripper_left_outer_finger_right_link"/>
    <axis xyz="0 0 1"/>
    <limit effort="0.1" lower="0" upper="0.9250245035569946" velocity="2"/>
    <mimic joint="gripper_left_finger_joint" multiplier="1" offset="0"/>
  </joint>
  <gazebo>
    <plugin filename="libroboticsgroup_upatras_gazebo_mimic_joint_plugin.so" name="gripper_left_right_mimic_pro_gripper_2_mimic_joint_plugin">
      <joint>gripper_left_finger_joint</joint>
      <mimicJoint>gripper_left_outer_finger_right_joint</mimicJoint>
      <multiplier>1.0</multiplier>
      <offset>0.0</offset>
      <sensitiveness>0.0</sensitiveness>
      <!-- if absolute difference between setpoint and process value is below this threshold, do nothing; 0.0 = disable [rad] -->
      <maxEffort>0.1</maxEffort>
    </plugin>
  </gazebo>
  <link name="gripper_left_fingertip_right_link">
    <inertial>
      <origin rpy="0 0 0" xyz="-6.9960E-04 0.01167 0.0"/>
      <mass value="0.03266"/>
      <inertia ixx="3.6361E-06" ixy="3.4071E-07" ixz="-1.4191E-14" iyy="1.7070E-06" iyz="-3.3433E-14" izz="2.8395E-06"/>
    </inertial>
    <visual>
      <origin rpy="0 0 0" xyz="0 0 0"/>
      <geometry>
        <mesh filename="package://example-robot-data/robots/tiago2_description/meshes/pal_pro_gripper/fingertip.stl"/>
      </geometry>
      <material name="White"/>
    </visual>
    <collision>
      <origin rpy="0 0 0" xyz="0 0 0"/>
      <geometry>
        <mesh filename="package://example-robot-data/robots/tiago2_description/meshes/pal_pro_gripper/fingertip.stl"/>
      </geometry>
    </collision>
  </link>
  <joint name="gripper_left_fingertip_right_joint" type="revolute">
    <origin rpy="0 0 0.8377580409572782" xyz="0 0.05 0.000"/>
    <parent link="gripper_left_inner_finger_right_link"/>
    <child link="gripper_left_fingertip_right_link"/>
    <axis xyz="0 0 1"/>
    <limit effort="0.1" lower="-0.9250245035569946" upper="0" velocity="2"/>
    <mimic joint="gripper_left_finger_joint" multiplier="-1" offset="0"/>
  </joint>
  <gazebo>
    <plugin filename="libroboticsgroup_upatras_gazebo_mimic_joint_plugin.so" name="gripper_left_right_mimic_pro_gripper_3_mimic_joint_plugin">
      <joint>gripper_left_finger_joint</joint>
      <mimicJoint>gripper_left_fingertip_right_joint</mimicJoint>
      <multiplier>-1.0</multiplier>
      <offset>0.0</offset>
      <sensitiveness>0.0</sensitiveness>
      <!-- if absolute difference between setpoint and process value is below this threshold, do nothing; 0.0 = disable [rad] -->
      <maxEffort>0.1</maxEffort>
    </plugin>
  </gazebo>
  <transmission name="gripper_left_finger_trans">
    <type>transmission_interface/SimpleTransmission</type>
    <joint name="gripper_left_finger_joint">
      <hardwareInterface>hardware_interface/PositionJointInterface</hardwareInterface>
      <hardwareInterface>hardware_interface/JointStateInterface</hardwareInterface>
    </joint>
    <actuator name="gripper_left_motor">
      <mechanicalReduction>1</mechanicalReduction>
      <hardwareInterface>hardware_interface/PositionJointInterface</hardwareInterface>
      <hardwareInterface>hardware_interface/JointStateInterface</hardwareInterface>
    </actuator>
  </transmission>
  <gazebo>
    <gripper name="gripper_left_grasp">
      <grasp_check>
        <attach_steps>3</attach_steps>
        <detach_steps>1</detach_steps>
        <!-- should not change otherwise the object will be attached to the gripper too much time -->
        <min_contact_count>3</min_contact_count>
      </grasp_check>
      <gripper_link>gripper_left_outer_finger_left_link</gripper_link>
      <gripper_link>gripper_left_outer_finger_right_link</gripper_link>
      <palm_link>wrist_left_ft_tool_link</palm_link>
    </gripper>
  </gazebo>
  <!-- <xacro:include filename="$(find pal_pro_gripper_description)/urdf/grasping_frames.xacro" /> -->
  <link name="gripper_right_base_link">
    <inertial>
      <origin rpy="0 0 0" xyz="6.0291E-05 -0.00013653 -0.0051371"/>
      <mass value="0.64278"/>
      <inertia ixx="0.00033701" ixy="-8.3235E-07" ixz="5.4122E-07" iyy="0.00042750" iyz="-4.3734E-07" izz="0.00048564"/>
    </inertial>
    <visual>
      <origin rpy="0 0 0" xyz="0 0 0"/>
      <geometry>
        <mesh filename="package://example-robot-data/robots/tiago2_description/meshes/pal_pro_gripper/base_link.stl"/>
      </geometry>
      <material name="pal/DarkGrey"/>
    </visual>
    <collision>
      <origin rpy="0 0 0" xyz="0 0 0"/>
      <geometry>
        <mesh filename="package://example-robot-data/robots/tiago2_description/meshes/pal_pro_gripper/base_link.stl"/>
      </geometry>
    </collision>
  </link>
  <joint name="gripper_right_base_joint" type="fixed">
    <origin rpy="0 1.5707963267948966 0" xyz="0.052 0.0 0.0"/>
    <parent link="wrist_right_ft_tool_link"/>
    <child link="gripper_right_base_link"/>
    <axis xyz="0 0 0"/>
  </joint>
  <gazebo reference="gripper_right_inner_finger_left_link">
    <material>Gazebo/White</material>
    <mu1>0.9</mu1>
    <mu2>0.9</mu2>
  </gazebo>
  <gazebo reference="gripper_right_inner_finger_right_link">
    <material>Gazebo/White</material>
    <mu1>0.9</mu1>
    <mu2>0.9</mu2>
  </gazebo>
  <gazebo reference="gripper_right_outer_finger_left_link">
    <material>Gazebo/White</material>
    <mu1>0.9</mu1>
    <mu2>0.9</mu2>
  </gazebo>
  <gazebo reference="gripper_right_outer_finger_right_link">
    <material>Gazebo/White</material>
    <mu1>0.9</mu1>
    <mu2>0.9</mu2>
  </gazebo>
  <gazebo reference="gripper_right_fingertip_right_link">
    <material>Gazebo/White</material>
    <mu1>0.9</mu1>
    <mu2>0.9</mu2>
  </gazebo>
  <gazebo reference="gripper_right_fingertip_left_link">
    <material>Gazebo/White</material>
    <mu1>0.9</mu1>
    <mu2>0.9</mu2>
  </gazebo>
  <gazebo reference="gripper_right_base_link">
    <material>Gazebo/DarkGrey</material>
    <mu1>0.9</mu1>
    <mu2>0.9</mu2>
  </gazebo>
  <gazebo reference="gripper_right_finger_joint">
    <implicitSpringDamper>1</implicitSpringDamper>
    <provideFeedback>1</provideFeedback>
  </gazebo>
  <link name="gripper_right_inner_finger_left_link">
    <inertial>
      <origin rpy="0 0 0" xyz="-1.7347E-18 0.024759 0"/>
      <mass value="0.018619"/>
      <inertia ixx="4.8806E-06" ixy="-7.6762E-22" ixz="1.0244E-22" iyy="2.5471E-07" iyz="-1.1841E-21" izz="4.9573E-06"/>
    </inertial>
    <visual>
      <origin rpy="0 0 0" xyz="0 0 0"/>
      <geometry>
        <mesh filename="package://example-robot-data/robots/tiago2_description/meshes/pal_pro_gripper/inner_finger.stl"/>
      </geometry>
      <material name="White"/>
    </visual>
    <collision>
      <origin rpy="0 0 0" xyz="0 0 0"/>
      <geometry>
        <mesh filename="package://example-robot-data/robots/tiago2_description/meshes/pal_pro_gripper/inner_finger.stl"/>
      </geometry>
    </collision>
  </link>
  <joint name="gripper_right_inner_finger_left_joint" type="revolute">
    <origin rpy="-1.5707963267948966 2.303834612632515 0" xyz="-0.013977 0 0.033032"/>
    <parent link="gripper_right_base_link"/>
    <child link="gripper_right_inner_finger_left_link"/>
    <axis xyz="0 0 1"/>
    <limit effort="0.1" lower="0" upper="0.9250245035569946" velocity="2"/>
    <mimic joint="gripper_right_finger_joint" multiplier="1" offset="0"/>
  </joint>
  <gazebo>
    <plugin filename="libroboticsgroup_upatras_gazebo_mimic_joint_plugin.so" name="gripper_right_left_mimic_pro_gripper_1_mimic_joint_plugin">
      <joint>gripper_right_finger_joint</joint>
      <mimicJoint>gripper_right_inner_finger_left_joint</mimicJoint>
      <multiplier>1.0</multiplier>
      <offset>0</offset>
      <sensitiveness>0.0</sensitiveness>
      <!-- if absolute difference between setpoint and process value is below this threshold, do nothing; 0.0 = disable [rad] -->
      <maxEffort>0.1</maxEffort>
    </plugin>
  </gazebo>
  <link name="gripper_right_outer_finger_left_link">
    <inertial>
      <origin rpy="0 0 0" xyz="-0.001283 0.014397 0"/>
      <mass value="0.015989"/>
      <inertia ixx="5.9879E-06" ixy="-5.2173E-07" ixz="5.9144E-23" iyy="4.8725E-07" iyz="7.3911E-23" izz="6.1497E-06"/>
    </inertial>
    <visual>
      <origin rpy="0 0 0" xyz="0 0 0"/>
      <geometry>
        <mesh filename="package://example-robot-data/robots/tiago2_description/meshes/pal_pro_gripper/outer_finger.stl"/>
      </geometry>
      <material name="White"/>
    </visual>
    <collision>
      <origin rpy="0 0 0" xyz="0 0 0"/>
      <geometry>
        <mesh filename="package://example-robot-data/robots/tiago2_description/meshes/pal_pro_gripper/outer_finger.stl"/>
      </geometry>
    </collision>
  </link>
  <joint name="gripper_right_finger_joint" type="revolute">
    <origin rpy="-1.5707963267948966 2.303834612632515 0" xyz="-0.0288  0.00 0.0285"/>
    <parent link="gripper_right_base_link"/>
    <child link="gripper_right_outer_finger_left_link"/>
    <axis xyz="0 0 1"/>
    <limit effort="0.1" lower="0" upper="0.9250245035569946" velocity="2"/>
    <dynamics damping="0.03"/>
  </joint>
  <link name="gripper_right_fingertip_left_link">
    <inertial>
      <origin rpy="0 0 0" xyz="-6.9960E-04 0.01167 0.0"/>
      <mass value="0.03266"/>
      <inertia ixx="3.6361E-06" ixy="3.4071E-07" ixz="-1.4191E-14" iyy="1.7070E-06" iyz="-3.3433E-14" izz="2.8395E-06"/>
    </inertial>
    <visual>
      <origin rpy="0 0 0" xyz="0 0 0"/>
      <geometry>
        <mesh filename="package://example-robot-data/robots/tiago2_description/meshes/pal_pro_gripper/fingertip.stl"/>
      </geometry>
      <material name="White"/>
    </visual>
    <collision>
      <origin rpy="0 0 0" xyz="0 0 0"/>
      <geometry>
        <mesh filename="package://example-robot-data/robots/tiago2_description/meshes/pal_pro_gripper/fingertip.stl"/>
      </geometry>
    </collision>
  </link>
  <joint name="gripper_right_fingertip_left_joint" type="revolute">
    <origin rpy="0 0 0.8377580409572782" xyz="0 0.05 0.000"/>
    <parent link="gripper_right_inner_finger_left_link"/>
    <child link="gripper_right_fingertip_left_link"/>
    <axis xyz="0 0 1"/>
    <limit effort="0.1" lower="-0.9250245035569946" upper="0" velocity="2"/>
    <mimic joint="gripper_right_finger_joint" multiplier="-1" offset="0"/>
  </joint>
  <gazebo>
    <plugin filename="libroboticsgroup_upatras_gazebo_mimic_joint_plugin.so" name="gripper_right_left_mimic_pro_gripper_3_mimic_joint_plugin">
      <joint>gripper_right_finger_joint</joint>
      <mimicJoint>gripper_right_fingertip_left_joint</mimicJoint>
      <multiplier>-1.0</multiplier>
      <offset>0.0</offset>
      <sensitiveness>0.0</sensitiveness>
      <!-- if absolute difference between setpoint and process value is below this threshold, do nothing; 0.0 = disable [rad] -->
      <maxEffort>0.1</maxEffort>
    </plugin>
  </gazebo>
  <link name="gripper_right_inner_finger_right_link">
    <inertial>
      <origin rpy="0 0 0" xyz="-1.7347E-18 0.024759 0"/>
      <mass value="0.018619"/>
      <inertia ixx="4.8806E-06" ixy="-7.6762E-22" ixz="1.0244E-22" iyy="2.5471E-07" iyz="-1.1841E-21" izz="4.9573E-06"/>
    </inertial>
    <visual>
      <origin rpy="0 0 0" xyz="0 0 0"/>
      <geometry>
        <mesh filename="package://example-robot-data/robots/tiago2_description/meshes/pal_pro_gripper/inner_finger.stl"/>
      </geometry>
      <material name="White"/>
    </visual>
    <collision>
      <origin rpy="0 0 0" xyz="0 0 0"/>
      <geometry>
        <mesh filename="package://example-robot-data/robots/tiago2_description/meshes/pal_pro_gripper/inner_finger.stl"/>
      </geometry>
    </collision>
  </link>
  <joint name="gripper_right_inner_finger_right_joint" type="revolute">
    <origin rpy="1.5707963267948966 0.8377580409572782 0" xyz="0.013977 0 0.033032"/>
    <parent link="gripper_right_base_link"/>
    <child link="gripper_right_inner_finger_right_link"/>
    <axis xyz="0 0 1"/>
    <limit effort="0.1" lower="0" upper="0.9250245035569946" velocity="2"/>
    <mimic joint="gripper_right_finger_joint" multiplier="1" offset="0"/>
  </joint>
  <gazebo>
    <plugin filename="libroboticsgroup_upatras_gazebo_mimic_joint_plugin.so" name="gripper_right_right_mimic_pro_gripper_1_mimic_joint_plugin">
      <joint>gripper_right_finger_joint</joint>
      <mimicJoint>gripper_right_inner_finger_right_joint</mimicJoint>
      <multiplier>1.0</multiplier>
      <offset>0</offset>
      <sensitiveness>0.0</sensitiveness>
      <!-- if absolute difference between setpoint and process value is below this threshold, do nothing; 0.0 = disable [rad] -->
      <maxEffort>0.1</maxEffort>
    </plugin>
  </gazebo>
  <link name="gripper_right_outer_finger_right_link">
    <inertial>
      <origin rpy="0 0 0" xyz="-0.001283 0.014397 0"/>
      <mass value="0.015989"/>
      <inertia ixx="5.9879E-06" ixy="-5.2173E-07" ixz="5.9144E-23" iyy="4.8725E-07" iyz="7.3911E-23" izz="6.1497E-06"/>
    </inertial>
    <visual>
      <origin rpy="0 0 0" xyz="0 0 0"/>
      <geometry>
        <mesh filename="package://example-robot-data/robots/tiago2_description/meshes/pal_pro_gripper/outer_finger.stl"/>
      </geometry>
      <material name="White"/>
    </visual>
    <collision>
      <origin rpy="0 0 0" xyz="0 0 0"/>
      <geometry>
        <mesh filename="package://example-robot-data/robots/tiago2_description/meshes/pal_pro_gripper/outer_finger.stl"/>
      </geometry>
    </collision>
  </link>
  <joint name="gripper_right_outer_finger_right_joint" type="revolute">
    <origin rpy="1.5707963267948966 0.8377580409572782 0" xyz="0.0288  0.00 0.0285"/>
    <parent link="gripper_right_base_link"/>
    <child link="gripper_right_outer_finger_right_link"/>
    <axis xyz="0 0 1"/>
    <limit effort="0.1" lower="0" upper="0.9250245035569946" velocity="2"/>
    <mimic joint="gripper_right_finger_joint" multiplier="1" offset="0"/>
  </joint>
  <gazebo>
    <plugin filename="libroboticsgroup_upatras_gazebo_mimic_joint_plugin.so" name="gripper_right_right_mimic_pro_gripper_2_mimic_joint_plugin">
      <joint>gripper_right_finger_joint</joint>
      <mimicJoint>gripper_right_outer_finger_right_joint</mimicJoint>
      <multiplier>1.0</multiplier>
      <offset>0.0</offset>
      <sensitiveness>0.0</sensitiveness>
      <!-- if absolute difference between setpoint and process value is below this threshold, do nothing; 0.0 = disable [rad] -->
      <maxEffort>0.1</maxEffort>
    </plugin>
  </gazebo>
  <link name="gripper_right_fingertip_right_link">
    <inertial>
      <origin rpy="0 0 0" xyz="-6.9960E-04 0.01167 0.0"/>
      <mass value="0.03266"/>
      <inertia ixx="3.6361E-06" ixy="3.4071E-07" ixz="-1.4191E-14" iyy="1.7070E-06" iyz="-3.3433E-14" izz="2.8395E-06"/>
    </inertial>
    <visual>
      <origin rpy="0 0 0" xyz="0 0 0"/>
      <geometry>
        <mesh filename="package://example-robot-data/robots/tiago2_description/meshes/pal_pro_gripper/fingertip.stl"/>
      </geometry>
      <material name="White"/>
    </visual>
    <collision>
      <origin rpy="0 0 0" xyz="0 0 0"/>
      <geometry>
        <mesh filename="package://example-robot-data/robots/tiago2_description/meshes/pal_pro_gripper/fingertip.stl"/>
      </geometry>
    </collision>
  </link>
  <joint name="gripper_right_fingertip_right_joint" type="revolute">
    <origin rpy="0 0 0.8377580409572782" xyz="0 0.05 0.000"/>
    <parent link="gripper_right_inner_finger_right_link"/>
    <child link="gripper_right_fingertip_right_link"/>
    <axis xyz="0 0 1"/>
    <limit effort="0.1" lower="-0.9250245035569946" upper="0" velocity="2"/>
    <mimic joint="gripper_right_finger_joint" multiplier="-1" offset="0"/>
  </joint>
  <gazebo>
    <plugin filename="libroboticsgroup_upatras_gazebo_mimic_joint_plugin.so" name="gripper_right_right_mimic_pro_gripper_3_mimic_joint_plugin">
      <joint>gripper_right_finger_joint</joint>
      <mimicJoint>gripper_right_fingertip_right_joint</mimicJoint>
      <multiplier>-1.0</multiplier>
      <offset>0.0</offset>
      <sensitiveness>0.0</sensitiveness>
      <!-- if absolute difference between setpoint and process value is below this threshold, do nothing; 0.0 = disable [rad] -->
      <maxEffort>0.1</maxEffort>
    </plugin>
  </gazebo>
  <transmission name="gripper_right_finger_trans">
    <type>transmission_interface/SimpleTransmission</type>
    <joint name="gripper_right_finger_joint">
      <hardwareInterface>hardware_interface/PositionJointInterface</hardwareInterface>
      <hardwareInterface>hardware_interface/JointStateInterface</hardwareInterface>
    </joint>
    <actuator name="gripper_right_motor">
      <mechanicalReduction>1</mechanicalReduction>
      <hardwareInterface>hardware_interface/PositionJointInterface</hardwareInterface>
      <hardwareInterface>hardware_interface/JointStateInterface</hardwareInterface>
    </actuator>
  </transmission>
  <gazebo>
    <gripper name="gripper_right_grasp">
      <grasp_check>
        <attach_steps>3</attach_steps>
        <detach_steps>1</detach_steps>
        <!-- should not change otherwise the object will be attached to the gripper too much time -->
        <min_contact_count>3</min_contact_count>
      </grasp_check>
      <gripper_link>gripper_right_outer_finger_left_link</gripper_link>
      <gripper_link>gripper_right_outer_finger_right_link</gripper_link>
      <palm_link>wrist_right_ft_tool_link</palm_link>
    </gripper>
  </gazebo>
</robot>
